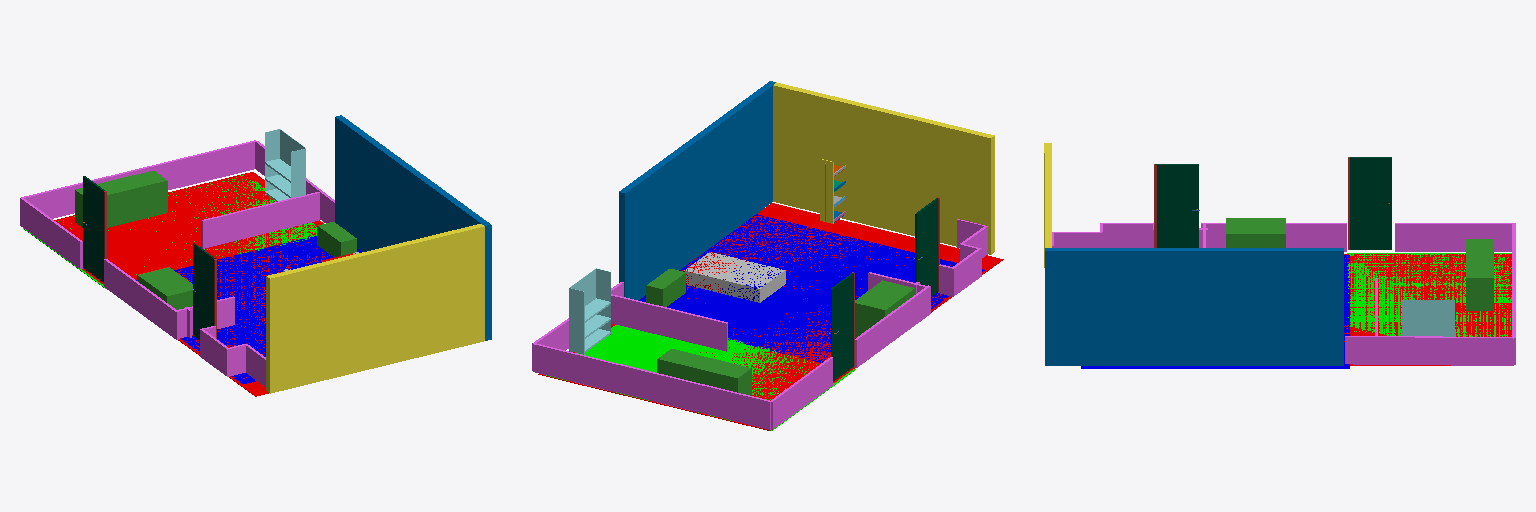
--- Facts derived from the render (not from the file) ---
3 views of the same robot in one strip: view 1: azimuth 30°, elevation 25°; view 2: azimuth 150°, elevation 25°; view 3: azimuth 270°, elevation 25° (orthographic).
Robot: iai-kitchen — 130 links, 129 joints (12 revolute, 15 prismatic, 102 fixed); root link urdf_main; default pose: every joint at zero.
Visible links, largest first — view 1: kitchen_wall_1, kitchen_wall_2, arena:arena:room_center_link, iai_kitchen:kitchen:room_center_link, wall_14_link, wall_4_link, popcorn_table:p_table:table_center, wall_3_link, living_room:arena:door_center, wall_5_link, iai_kitchen:arena:door_center, long_table:l_table:table_center (+8 smaller); view 2: kitchen_wall_1, kitchen_wall_2, iai_kitchen:kitchen:room_center_link, wall_14_link, arena:arena:room_center_link, living_room:living_room:room_center_link, wall_4_link, suturo_couch:couch:place1, popcorn_table:p_table:table_center, wall_3_link, living_room:arena:door_center, wall_5_link (+8 smaller); view 3: kitchen_wall_2, arena:arena:room_center_link, wall_15_link, living_room:living_room:room_center_link, living_room:arena:door_center, iai_kitchen:arena:door_center, wall_5_link, popcorn_table:p_table:table_center, wall_3_link, shelf:shelf:shelf_back, long_table:l_table:table_center, iai_kitchen:kitchen:room_center_link (+3 smaller).
Boxes of the visible links, box(x1,y1,x2,y2) form: kitchen_wall_1: box(266, 224, 484, 393); kitchen_wall_2: box(335, 115, 491, 340); arena:arena:room_center_link: box(54, 172, 329, 396); iai_kitchen:kitchen:room_center_link: box(136, 236, 361, 383); wall_14_link: box(21, 140, 255, 218); wall_4_link: box(201, 192, 319, 248); popcorn_table:p_table:table_center: box(75, 170, 167, 227); wall_3_link: box(104, 259, 178, 339); living_room:arena:door_center: box(83, 176, 104, 282); wall_5_link: box(20, 198, 82, 268); iai_kitchen:arena:door_center: box(193, 243, 215, 339); long_table:l_table:table_center: box(137, 267, 192, 309); kitchen_wall_1: box(773, 82, 994, 254); kitchen_wall_2: box(619, 81, 775, 300); iai_kitchen:kitchen:room_center_link: box(639, 214, 984, 362); wall_14_link: box(533, 343, 770, 429); arena:arena:room_center_link: box(538, 203, 1003, 430); living_room:living_room:room_center_link: box(546, 325, 855, 430); wall_4_link: box(611, 294, 727, 351); suturo_couch:couch:place1: box(684, 252, 785, 302); popcorn_table:p_table:table_center: box(657, 349, 751, 395); wall_3_link: box(854, 285, 930, 367); living_room:arena:door_center: box(831, 273, 853, 381); wall_5_link: box(771, 357, 832, 429); kitchen_wall_2: box(1045, 248, 1343, 365); arena:arena:room_center_link: box(1344, 254, 1511, 365); wall_15_link: box(1345, 336, 1513, 365); living_room:living_room:room_center_link: box(1347, 253, 1511, 336); living_room:arena:door_center: box(1350, 157, 1391, 249); iai_kitchen:arena:door_center: box(1155, 164, 1198, 247); wall_5_link: box(1395, 223, 1513, 251); popcorn_table:p_table:table_center: box(1466, 239, 1493, 310); wall_3_link: box(1201, 223, 1346, 251); shelf:shelf:shelf_back: box(1402, 300, 1454, 336); long_table:l_table:table_center: box(1226, 218, 1285, 247); iai_kitchen:kitchen:room_center_link: box(1081, 255, 1349, 368).
Bounding box of the posed robot: 5.42 × 9.27 × 2.56 m (x, y, z).
0 mesh visuals loaded from 28 distinct referenced files (none loaded); not drawn: 53 (reference not matched to a file when rendering).

The robot description file, URDF, robot "iai-kitchen":
<?xml version="1.0" ?>
<robot name="iai-kitchen" version="1.0">
  <material name="table_grey">
    <color rgba="0.255 0.62 0.223 1.0"/>
  </material>
  <material name="round_table_grey">
    <color rgba="0.8 0.8 0.8 1.0"/>
  </material>
  <material name="wall_pink">
    <color rgba="0.95 0.43 0.96 1.0"/>
  </material>
  <material name="shelf_blue">
    <color rgba="0.59 0.88 0.9 1.0"/>
  </material>
  <material name="shelf_door_green">
    <color rgba="0.64 0.87 0.82 1.0"/>
  </material>
  <material name="shelf_openable_handle_red">
    <color rgba="0.74 0.25 0.25 1.0"/>
  </material>
  <material name="shelf_hohc_handle_red">
    <color rgba="0.74 0.25 0.25 1.0"/>
  </material>
  <material name="door_green">
    <color rgba="0.0 0.31 0.22 1.0"/>
  </material>
  <material name="hinge_red">
    <color rgba="0.74 0.25 0.25 1.0"/>
  </material>
  <material name="handle_blue">
    <color rgba="0.3 0.5 0.78 1.0"/>
  </material>
  <material name="bucket_grey">
    <color rgba="0.8 0.8 0.8 1.0"/>
  </material>
  <material name="white">
    <color rgba="1.0 1.0 1.0 1.0"/>
  </material>
  <material name="orange">
    <color rgba="1.0 0.7 0.0 1.0"/>
  </material>
  <material name="handle_white">
    <color rgba="1.0 1.0 1.0 1.0"/>
  </material>
  <material name="bottom_white">
    <color rgba="1.0 1.0 1.0 1.0"/>
  </material>
  <material name="frame_wood">
    <color rgba="0.68 0.63 0.47 1.0"/>
  </material>
  <material name="handle_grey">
    <color rgba="0.7 0.7 0.7 1.0"/>
  </material>
  <material name="dishwasher_table_color">
    <color rgba="0.255 0.62 0.223 1.0"/>
  </material>
  <material name="color_grey">
    <color rgba="0.8 0.8 0.8 1.0"/>
  </material>
  <material name="color_red">
    <color rgba="1.0 0.0 0.0 1.0"/>
  </material>
  <material name="color_blue">
    <color rgba="0.0 0.0 1.0 1.0"/>
  </material>
  <material name="simple_couch_color_grey">
    <color rgba="0.8 0.8 0.8 1.0"/>
  </material>
  <material name="simple_couch_color_red">
    <color rgba="1.0 0.0 0.0 1.0"/>
  </material>
  <material name="simple_couch_color_blue">
    <color rgba="0.0 0.0 1.0 1.0"/>
  </material>
  <material name="chair_color">
    <color rgba="0.0 0.0 0.5 1.0"/>
  </material>
  <link name="long_table:l_table:table_center">
    <visual>
      <origin xyz="0.0 0.0 -0.3675" rpy="0.0 0.0 0.0"/>
      <geometry>
        <box size="0.73 1.17 0.735"/>
      </geometry>
      <material name="table_grey"/>
    </visual>
    <collision>
      <origin xyz="0.0 0.0 -0.3675" rpy="0.0 0.0 0.0"/>
      <geometry>
        <box size="0.73 1.17 0.735"/>
      </geometry>
    </collision>
  </link>
  <link name="long_table:l_table:table_origin"/>
  <link name="long_table:l_table:table_front_edge_center"/>
  <joint name="long_table:l_table:table_origin_joint" type="fixed">
    <origin xyz="1.01 2.13 0.0" rpy="0.0 0.0 3.15"/>
    <parent link="urdf_offset"/>
    <child link="long_table:l_table:table_origin"/>
  </joint>
  <joint name="long_table:l_table:center_joint" type="fixed">
    <origin xyz="0.365 0.585 0.735" rpy="0.0 0.0 0.0"/>
    <parent link="long_table:l_table:table_origin"/>
    <child link="long_table:l_table:table_center"/>
  </joint>
  <joint name="long_table:l_table:table_front_edge_center_joint" type="fixed">
    <origin xyz="0.0 0.585 0.735" rpy="0.0 0.0 0.0"/>
    <parent link="long_table:l_table:table_origin"/>
    <child link="long_table:l_table:table_front_edge_center"/>
  </joint>
  <link name="popcorn_table:p_table:table_center">
    <visual>
      <origin xyz="0.0 0.0 -0.355" rpy="0.0 0.0 0.0"/>
      <geometry>
        <box size="0.55 1.8 0.71"/>
      </geometry>
      <material name="table_grey"/>
    </visual>
    <collision>
      <origin xyz="0.0 0.0 -0.355" rpy="0.0 0.0 0.0"/>
      <geometry>
        <box size="0.55 1.8 0.71"/>
      </geometry>
    </collision>
  </link>
  <link name="popcorn_table:p_table:table_origin"/>
  <link name="popcorn_table:p_table:table_front_edge_center"/>
  <joint name="popcorn_table:p_table:table_origin_joint" type="fixed">
    <origin xyz="3.03 5.68 0.0" rpy="0.0 0.0 1.57"/>
    <parent link="urdf_offset"/>
    <child link="popcorn_table:p_table:table_origin"/>
  </joint>
  <joint name="popcorn_table:p_table:center_joint" type="fixed">
    <origin xyz="0.275 0.9 0.71" rpy="0.0 0.0 0.0"/>
    <parent link="popcorn_table:p_table:table_origin"/>
    <child link="popcorn_table:p_table:table_center"/>
  </joint>
  <joint name="popcorn_table:p_table:table_front_edge_center_joint" type="fixed">
    <origin xyz="0.0 0.9 0.71" rpy="0.0 0.0 0.0"/>
    <parent link="popcorn_table:p_table:table_origin"/>
    <child link="popcorn_table:p_table:table_front_edge_center"/>
  </joint>
  <link name="couch_table:couch_table:table_center">
    <visual>
      <origin xyz="0.0 0.0 -0.2165" rpy="0.0 0.0 0.0"/>
      <geometry>
        <box size="0.37 0.909 0.433"/>
      </geometry>
      <material name="table_grey"/>
    </visual>
    <collision>
      <origin xyz="0.0 0.0 -0.2165" rpy="0.0 0.0 0.0"/>
      <geometry>
        <box size="0.37 0.909 0.433"/>
      </geometry>
    </collision>
  </link>
  <link name="couch_table:couch_table:table_origin"/>
  <link name="couch_table:couch_table:table_front_edge_center"/>
  <joint name="couch_table:couch_table:table_origin_joint" type="fixed">
    <origin xyz="4.83 1.99 0.0" rpy="0.0 0.0 0.0"/>
    <parent link="urdf_offset"/>
    <child link="couch_table:couch_table:table_origin"/>
  </joint>
  <joint name="couch_table:couch_table:center_joint" type="fixed">
    <origin xyz="0.185 0.4545 0.433" rpy="0.0 0.0 0.0"/>
    <parent link="couch_table:couch_table:table_origin"/>
    <child link="couch_table:couch_table:table_center"/>
  </joint>
  <joint name="couch_table:couch_table:table_front_edge_center_joint" type="fixed">
    <origin xyz="0.0 0.4545 0.433" rpy="0.0 0.0 0.0"/>
    <parent link="couch_table:couch_table:table_origin"/>
    <child link="couch_table:couch_table:table_front_edge_center"/>
  </joint>
  <link name="suturo_couch:couch:place1">
    <visual>
      <origin xyz="0.0 0.0 0.15" rpy="0.0 0.0 0.0"/>
      <geometry>
        <box size="1.0 1.7 0.3"/>
      </geometry>
      <material name="color_grey"/>
    </visual>
    <collision>
      <origin xyz="0.0 0.0 0.0" rpy="0.0 0.0 0.0"/>
      <geometry>
        <box size="1.0 1.7 0.3"/>
      </geometry>
    </collision>
  </link>
  <link name="suturo_couch:couch:place2">
    <visual>
      <origin xyz="0.0 -0.425 0.15" rpy="0.0 0.0 0.0"/>
      <geometry>
        <box size="1.0 0.85 0.3"/>
      </geometry>
      <material name="color_red"/>
    </visual>
    <collision>
      <origin xyz="0.0 0.0 0.0" rpy="0.0 0.0 0.0"/>
      <geometry>
        <box size="1.0 1.7 0.3"/>
      </geometry>
    </collision>
  </link>
  <link name="suturo_couch:couch:place3">
    <visual>
      <origin xyz="0.0 0.425 0.15" rpy="0.0 0.0 0.0"/>
      <geometry>
        <box size="1.0 0.85 0.3"/>
      </geometry>
      <material name="color_blue"/>
    </visual>
    <collision>
      <origin xyz="0.0 0.0 -0.15" rpy="0.0 0.0 0.0"/>
      <geometry>
        <box size="1.0 1.7 0.3"/>
      </geometry>
    </collision>
  </link>
  <joint name="suturo_couch:couch:couch_origin_joint" type="fixed">
    <origin xyz="4.2 1.19 0.0" rpy="0.0 0.0 1.57"/>
    <parent link="urdf_offset"/>
    <child link="suturo_couch:couch:place1"/>
  </joint>
  <joint name="suturo_couch:couch:couch_left_joint" type="fixed">
    <origin xyz="0.0 0.0 0.0" rpy="0.0 0.0 0.0"/>
    <parent link="suturo_couch:couch:place1"/>
    <child link="suturo_couch:couch:place2"/>
  </joint>
  <joint name="suturo_couch:couch:couch_right_joint" type="fixed">
    <origin xyz="0.0 0.0 0.0" rpy="0.0 0.0 0.0"/>
    <parent link="suturo_couch:couch:place1"/>
    <child link="suturo_couch:couch:place3"/>
  </joint>
  <link name="shelf:shelf:shelf_origin"/>
  <link name="shelf:shelf:shelf_center"/>
  <link name="shelf:shelf:shelf_base_center"/>
  <joint name="shelf:shelf:shelf_origin_joint" type="fixed">
    <origin xyz="5.11 4.42 0.0" rpy="0.0 0.0 0.0"/>
    <parent link="urdf_offset"/>
    <child link="shelf:shelf:shelf_origin"/>
  </joint>
  <joint name="shelf:shelf:shelf_center_joint" type="fixed">
    <origin xyz="0.17 0.52 0.6775" rpy="0.0 0.0 0.0"/>
    <parent link="shelf:shelf:shelf_origin"/>
    <child link="shelf:shelf:shelf_center"/>
  </joint>
  <joint name="shelf:shelf:shelf_base_center_joint" type="fixed">
    <origin xyz="0.17 0.52 0.0" rpy="0.0 0.0 0.0"/>
    <parent link="shelf:shelf:shelf_origin"/>
    <child link="shelf:shelf:shelf_base_center"/>
  </joint>
  <link name="shelf:shelf:shelf_back">
    <visual>
      <origin xyz="0.0 0.0 0.0" rpy="0.0 0.0 0.0"/>
      <geometry>
        <box size="0.01 1.04 1.355"/>
      </geometry>
      <material name="shelf_blue"/>
    </visual>
    <collision>
      <origin xyz="0.0 0.0 0.0" rpy="0.0 0.0 0.0"/>
      <geometry>
        <box size="0.01 1.04 1.355"/>
      </geometry>
    </collision>
  </link>
  <joint name="shelf:shelf:shelf_back:joint" type="fixed">
    <origin xyz="0.34 0.52 0.6775" rpy="0.0 0.0 0.0"/>
    <parent link="shelf:shelf:shelf_origin"/>
    <child link="shelf:shelf:shelf_back"/>
  </joint>
  <link name="shelf:shelf:shelf_right_side">
    <visual>
      <origin xyz="0.0 0.0 0.0" rpy="0.0 0.0 0.0"/>
      <geometry>
        <box size="0.34 0.01 1.355"/>
      </geometry>
      <material name="shelf_blue"/>
    </visual>
    <collision>
      <origin xyz="0.0 0.0 0.0" rpy="0.0 0.0 0.0"/>
      <geometry>
        <box size="0.34 0.01 1.355"/>
      </geometry>
    </collision>
  </link>
  <joint name="shelf:shelf:shelf_right_side:joint" type="fixed">
    <origin xyz="0.17 0.0 0.6775" rpy="0.0 0.0 0.0"/>
    <parent link="shelf:shelf:shelf_origin"/>
    <child link="shelf:shelf:shelf_right_side"/>
  </joint>
  <link name="shelf:shelf:shelf_left_side">
    <visual>
      <origin xyz="0.0 0.0 0.0" rpy="0.0 0.0 0.0"/>
      <geometry>
        <box size="0.34 0.01 1.355"/>
      </geometry>
      <material name="shelf_blue"/>
    </visual>
    <collision>
      <origin xyz="0.0 0.0 0.0" rpy="0.0 0.0 0.0"/>
      <geometry>
        <box size="0.34 0.01 1.355"/>
      </geometry>
    </collision>
  </link>
  <joint name="shelf:shelf:shelf_left_side:joint" type="fixed">
    <origin xyz="0.17 1.04 0.6775" rpy="0.0 0.0 0.0"/>
    <parent link="shelf:shelf:shelf_origin"/>
    <child link="shelf:shelf:shelf_left_side"/>
  </joint>
  <link name="shelf:shelf:shelf_floor_0">
    <visual>
      <origin xyz="0.0 0.0 -0.02" rpy="0.0 0.0 0.0"/>
      <geometry>
        <box size="0.34 1.04 0.04"/>
      </geometry>
      <material name="shelf_blue"/>
    </visual>
    <collision>
      <origin xyz="0.0 0.0 -0.02" rpy="0.0 0.0 0.0"/>
      <geometry>
        <box size="0.34 1.04 0.04"/>
      </geometry>
    </collision>
  </link>
  <joint name="shelf:shelf:shelf_floor_0:joint" type="fixed">
    <origin xyz="0.0 0.0 0.077" rpy="0.0 0.0 0.0"/>
    <parent link="shelf:shelf:shelf_base_center"/>
    <child link="shelf:shelf:shelf_floor_0"/>
  </joint>
  <link name="shelf:shelf:shelf_floor_1">
    <visual>
      <origin xyz="0.0 0.0 -0.02" rpy="0.0 0.0 0.0"/>
      <geometry>
        <box size="0.34 1.04 0.04"/>
      </geometry>
      <material name="shelf_blue"/>
    </visual>
    <collision>
      <origin xyz="0.0 0.0 -0.02" rpy="0.0 0.0 0.0"/>
      <geometry>
        <box size="0.34 1.04 0.04"/>
      </geometry>
    </collision>
  </link>
  <joint name="shelf:shelf:shelf_floor_1:joint" type="fixed">
    <origin xyz="0.0 0.0 0.371" rpy="0.0 0.0 0.0"/>
    <parent link="shelf:shelf:shelf_base_center"/>
    <child link="shelf:shelf:shelf_floor_1"/>
  </joint>
  <link name="shelf:shelf:shelf_floor_2">
    <visual>
      <origin xyz="0.0 0.0 -0.02" rpy="0.0 0.0 0.0"/>
      <geometry>
        <box size="0.34 1.04 0.04"/>
      </geometry>
      <material name="shelf_blue"/>
    </visual>
    <collision>
      <origin xyz="0.0 0.0 -0.02" rpy="0.0 0.0 0.0"/>
      <geometry>
        <box size="0.34 1.04 0.04"/>
      </geometry>
    </collision>
  </link>
  <joint name="shelf:shelf:shelf_floor_2:joint" type="fixed">
    <origin xyz="0.0 0.0 0.716" rpy="0.0 0.0 0.0"/>
    <parent link="shelf:shelf:shelf_base_center"/>
    <child link="shelf:shelf:shelf_floor_2"/>
  </joint>
  <joint name="wall_1_center_joint" type="fixed">
    <origin xyz="0.515 0.5015 0.3" rpy="0 0 0"/>
    <parent link="urdf_offset"/>
    <child link="wall_1_link"/>
  </joint>
  <link name="wall_1_link">
    <visual>
      <origin xyz="0.0 0.0 0.0" rpy="0.0 0.0 1.5707963267948966"/>
      <geometry>
        <box size="0.173 0.06 0.6"/>
      </geometry>
      <material name="wall_pink"/>
    </visual>
    <collision>
      <origin xyz="0.0 0.0 0.0" rpy="0.0 0.0 1.5707963267948966"/>
      <geometry>
        <box size="0.173 0.06 0.6"/>
      </geometry>
    </collision>
  </link>
  <joint name="wall_2_center_joint" type="fixed">
    <origin xyz="0.91 0.53 0.3" rpy="0 0 0"/>
    <parent link="urdf_offset"/>
    <child link="wall_2_link"/>
  </joint>
  <link name="wall_2_link">
    <visual>
      <origin xyz="0.0 0.0 0.0" rpy="0.0 0.0 0.0"/>
      <geometry>
        <box size="1.32 0.06 0.6"/>
      </geometry>
      <material name="wall_pink"/>
    </visual>
    <collision>
      <origin xyz="0.0 0.0 0.0" rpy="0.0 0.0 0.0"/>
      <geometry>
        <box size="1.32 0.06 0.6"/>
      </geometry>
    </collision>
  </link>
  <joint name="wall_3_center_joint" type="fixed">
    <origin xyz="0.25 1.903 0.3" rpy="0 0 0"/>
    <parent link="urdf_offset"/>
    <child link="wall_3_link"/>
  </joint>
  <link name="wall_3_link">
    <visual>
      <origin xyz="0.0 0.0 0.0" rpy="0.0 0.0 1.5707963267948966"/>
      <geometry>
        <box size="2.8739999999999997 0.06 0.6"/>
      </geometry>
      <material name="wall_pink"/>
    </visual>
    <collision>
      <origin xyz="0.0 0.0 0.0" rpy="0.0 0.0 1.5707963267948966"/>
      <geometry>
        <box size="2.8739999999999997 0.06 0.6"/>
      </geometry>
    </collision>
  </link>
  <joint name="wall_4_center_joint" type="fixed">
    <origin xyz="4.13 3.92 0.3" rpy="0 0 0"/>
    <parent link="urdf_offset"/>
    <child link="wall_4_link"/>
  </joint>
  <link name="wall_4_link">
    <visual>
      <origin xyz="0.0 0.0 0.0" rpy="0.0 0.0 0.0"/>
      <geometry>
        <box size="2.6799999999999997 0.06 0.6"/>
      </geometry>
      <material name="wall_pink"/>
    </visual>
    <collision>
      <origin xyz="0.0 0.0 0.0" rpy="0.0 0.0 0.0"/>
      <geometry>
        <box size="2.6799999999999997 0.06 0.6"/>
      </geometry>
    </collision>
  </link>
  <joint name="wall_5_center_joint" type="fixed">
    <origin xyz="0.25 5.445 0.3" rpy="0 0 0"/>
    <parent link="urdf_offset"/>
    <child link="wall_5_link"/>
  </joint>
  <link name="wall_5_link">
    <visual>
      <origin xyz="0.0 0.0 0.0" rpy="0.0 0.0 1.5707963267948966"/>
      <geometry>
        <box size="2.3500000000000005 0.06 0.6"/>
      </geometry>
      <material name="wall_pink"/>
    </visual>
    <collision>
      <origin xyz="0.0 0.0 0.0" rpy="0.0 0.0 1.5707963267948966"/>
      <geometry>
        <box size="2.3500000000000005 0.06 0.6"/>
      </geometry>
    </collision>
  </link>
  <joint name="wall_9_center_joint" type="fixed">
    <origin xyz="0.97 -2.47 0.3" rpy="0 0 0"/>
    <parent link="urdf_offset"/>
    <child link="wall_9_link"/>
  </joint>
  <link name="wall_9_link">
    <visual>
      <origin xyz="0.0 0.0 0.0" rpy="0.0 0.0 0.0"/>
      <geometry>
        <box size="0.68 0.06 0.6"/>
      </geometry>
      <material name="wall_pink"/>
    </visual>
    <collision>
      <origin xyz="0.0 0.0 0.0" rpy="0.0 0.0 0.0"/>
      <geometry>
        <box size="0.68 0.06 0.6"/>
      </geometry>
    </collision>
  </link>
  <joint name="wall_10_center_joint" type="fixed">
    <origin xyz="0.6645000000000001 -2.0 0.3" rpy="0 0 0"/>
    <parent link="urdf_offset"/>
    <child link="wall_10_link"/>
  </joint>
  <link name="wall_10_link">
    <visual>
      <origin xyz="0.0 0.0 0.0" rpy="0.0 0.0 1.560012431117244"/>
      <geometry>
        <box size="1.0200593120010226 0.06 0.6"/>
      </geometry>
      <material name="wall_pink"/>
    </visual>
    <collision>
      <origin xyz="0.0 0.0 0.0" rpy="0.0 0.0 1.560012431117244"/>
      <geometry>
        <box size="1.0200593120010226 0.06 0.6"/>
      </geometry>
    </collision>
  </link>
  <joint name="wall_11_center_joint" type="fixed">
    <origin xyz="0.457 -1.5 0.3" rpy="0 0 0"/>
    <parent link="urdf_offset"/>
    <child link="wall_11_link"/>
  </joint>
  <link name="wall_11_link">
    <visual>
      <origin xyz="0.0 0.0 0.0" rpy="0.0 0.0 0.0"/>
      <geometry>
        <box size="0.404 0.06 0.6"/>
      </geometry>
      <material name="wall_pink"/>
    </visual>
    <collision>
      <origin xyz="0.0 0.0 0.0" rpy="0.0 0.0 0.0"/>
      <geometry>
        <box size="0.404 0.06 0.6"/>
      </geometry>
    </collision>
  </link>
  <joint name="wall_12_center_joint" type="fixed">
    <origin xyz="0.2575 -0.983 0.3" rpy="0 0 0"/>
    <parent link="urdf_offset"/>
    <child link="wall_12_link"/>
  </joint>
  <link name="wall_12_link">
    <visual>
      <origin xyz="0.0 0.0 0.0" rpy="0.0 0.0 1.566225974704932"/>
      <geometry>
        <box size="1.0940114259001137 0.06 0.6"/>
      </geometry>
      <material name="wall_pink"/>
    </visual>
    <collision>
      <origin xyz="0.0 0.0 0.0" rpy="0.0 0.0 1.566225974704932"/>
      <geometry>
        <box size="1.0940114259001137 0.06 0.6"/>
      </geometry>
    </collision>
  </link>
  <joint name="wall_13_center_joint" type="fixed">
    <origin xyz="0.41 -0.464 0.3" rpy="0 0 0"/>
    <parent link="urdf_offset"/>
    <child link="wall_13_link"/>
  </joint>
  <link name="wall_13_link">
    <visual>
      <origin xyz="0.0 0.0 0.0" rpy="0.0 0.0 0.0"/>
      <geometry>
        <box size="0.31999999999999995 0.06 0.6"/>
      </geometry>
      <material name="wall_pink"/>
    </visual>
    <collision>
      <origin xyz="0.0 0.0 0.0" rpy="0.0 0.0 0.0"/>
      <geometry>
        <box size="0.31999999999999995 0.06 0.6"/>
      </geometry>
    </collision>
  </link>
  <joint name="wall_14_center_joint" type="fixed">
    <origin xyz="2.915 6.62 0.3" rpy="0 0 0"/>
    <parent link="urdf_offset"/>
    <child link="wall_14_link"/>
  </joint>
  <link name="wall_14_link">
    <visual>
      <origin xyz="0.0 0.0 0.0" rpy="0.0 0.0 0.0"/>
      <geometry>
        <box size="5.33 0.06 0.6"/>
      </geometry>
      <material name="wall_pink"/>
    </visual>
    <collision>
      <origin xyz="0.0 0.0 0.0" rpy="0.0 0.0 0.0"/>
      <geometry>
        <box size="5.33 0.06 0.6"/>
      </geometry>
    </collision>
  </link>
  <joint name="wall_15_center_joint" type="fixed">
    <origin xyz="5.54 4.96 0.3" rpy="0 0 0"/>
    <parent link="urdf_offset"/>
    <child link="wall_15_link"/>
  </joint>
  <link name="wall_15_link">
    <visual>
      <origin xyz="0.0 0.0 0.0" rpy="0.0 0.0 1.5467046033699754"/>
      <geometry>
        <box size="3.320963715550051 0.06 0.6"/>
      </geometry>
      <material name="wall_pink"/>
    </visual>
    <collision>
      <origin xyz="0.0 0.0 0.0" rpy="0.0 0.0 1.5467046033699754"/>
      <geometry>
        <box size="3.320963715550051 0.06 0.6"/>
      </geometry>
    </collision>
  </link>
  <joint name="world_iai_kitchen:kitchen:room_joint" type="fixed">
    <origin xyz="3.0 0.75 -0.05" rpy="0.0 0.0 0.0"/>
    <parent link="urdf_offset"/>
    <child link="iai_kitchen:kitchen:room_center_link"/>
  </joint>
  <link name="iai_kitchen:kitchen:room_center_link">
    <visual>
      <geometry>
        <box size="5.28 5.3 0.01"/>
      </geometry>
      <material name="iai_kitchen:kitchen:color">
        <color rgba="0.0 0.0 1.0 0.1"/>
      </material>
    </visual>
    <collision>
      <geometry>
        <box size="5.28 5.3 0.01"/>
      </geometry>
    </collision>
  </link>
  <joint name="room_kitchen_entry_exit:entry_exit:connection_joint" type="fixed">
    <origin xyz="-2.4 -0.66 0.0" rpy="0.0 0.0 0.0"/>
    <parent link="iai_kitchen:kitchen:room_center_link"/>
    <child link="kitchen_entry_exit:entry_exit:link"/>
  </joint>
  <link name="kitchen_entry_exit:entry_exit:link"/>
  <joint name="world_arena:arena:room_joint" type="fixed">
    <origin xyz="2.9 2.05 -0.05" rpy="0.0 0.0 0.0"/>
    <parent link="urdf_offset"/>
    <child link="arena:arena:room_center_link"/>
  </joint>
  <link name="arena:arena:room_center_link">
    <visual>
      <geometry>
        <box size="5.2 9.1 0.01"/>
      </geometry>
      <material name="arena:arena:color">
        <color rgba="1.0 0.0 0.0 0.1"/>
      </material>
    </visual>
    <collision>
      <geometry>
        <box size="5.2 9.1 0.01"/>
      </geometry>
    </collision>
  </link>
  <joint name="room_arena_entry:entry:connection_joint" type="fixed">
    <origin xyz="-2.23 -2.05 0.0" rpy="0.0 0.0 0.0"/>
    <parent link="arena:arena:room_center_link"/>
    <child link="arena_entry:entry:link"/>
  </joint>
  <link name="arena_entry:entry:link"/>
  <joint name="room_arena_exit:exit:connection_joint" type="fixed">
    <origin xyz="-2.23 1.75 0.0" rpy="0.0 0.0 0.0"/>
    <parent link="arena:arena:room_center_link"/>
    <child link="arena_exit:exit:link"/>
  </joint>
  <link name="arena_exit:exit:link"/>
  <joint name="world_living_room:living_room:room_joint" type="fixed">
    <origin xyz="2.79 4.95 -0.05" rpy="0.0 0.0 0.0"/>
    <parent link="urdf_offset"/>
    <child link="living_room:living_room:room_center_link"/>
  </joint>
  <link name="living_room:living_room:room_center_link">
    <visual>
      <geometry>
        <box size="5.07 3.25 0.01"/>
      </geometry>
      <material name="living_room:living_room:color">
        <color rgba="0.0 1.0 0.0 0.1"/>
      </material>
    </visual>
    <collision>
      <geometry>
        <box size="5.07 3.25 0.01"/>
      </geometry>
    </collision>
  </link>
  <joint name="room_living_room_entry_exit:entry_exit:connection_joint" type="fixed">
    <origin xyz="-2.5300000000000002 -1.1400000000000001 0.0" rpy="0.0 0.0 0.0"/>
    <parent link="living_room:living_room:room_center_link"/>
    <child link="living_room_entry_exit:entry_exit:link"/>
  </joint>
  <link name="living_room_entry_exit:entry_exit:link"/>
  <link name="kitchen_main">
    <inertial>
      <origin xyz="0.0 0.0 0.0" rpy="0.0 0.0 0.0"/>
      <mass value="1.0"/>
      <inertia ixx="1.0" ixy="0.0" ixz="0.0" iyy="1.0" iyz="0.0" izz="1.0"/>
    </inertial>
  </link>
  <joint name="kitchen_main" type="fixed">
    <origin xyz="2.45 -0.67 0.0" rpy="0.0 0.0 -1.57"/>
    <parent link="urdf_offset"/>
    <child link="kitchen_main"/>
  </joint>
  <link name="sink_area_footprint">
    <inertial>
      <origin xyz="0.0 0.0 0.0" rpy="0.0 0.0 0.0"/>
      <mass value="1.0"/>
      <inertia ixx="1.0" ixy="0.0" ixz="0.0" iyy="1.0" iyz="0.0" izz="1.0"/>
    </inertial>
  </link>
  <link name="sink_area">
    <inertial>
      <origin xyz="0.0 0.0 0.0" rpy="0.0 0.0 0.0"/>
      <mass value="1.0"/>
      <inertia ixx="1.0" ixy="0.0" ixz="0.0" iyy="1.0" iyz="0.0" izz="1.0"/>
    </inertial>
    <visual>
      <origin xyz="0.0 0.0 0.0" rpy="0.0 0.0 0.0"/>
      <geometry>
        <mesh filename="package://iai_kitchen/meshes/racks/SinkArea.obj"/>
      </geometry>
    </visual>
    <collision>
      <origin xyz="0.0 0.0 0.0" rpy="0.0 0.0 0.0"/>
      <geometry>
        <mesh filename="package://iai_kitchen/meshes/racks/SinkArea.obj"/>
      </geometry>
    </collision>
  </link>
  <joint name="sink_area_footprint_joint" type="fixed">
    <origin xyz="1.825 1.32 0.0" rpy="0.0 0.0 3.14159265359"/>
    <parent link="kitchen_main"/>
    <child link="sink_area_footprint"/>
  </joint>
  <joint name="sink_area_main_joint" type="fixed">
    <origin xyz="0.29 1.03 0.41" rpy="0.0 0.0 0.0"/>
    <parent link="sink_area_footprint"/>
    <child link="sink_area"/>
  </joint>
  <link name="sink_area_surface">
    <inertial>
      <origin xyz="0.0 0.0 0.0" rpy="0.0 0.0 0.0"/>
      <mass value="1.0"/>
      <inertia ixx="1.0" ixy="0.0" ixz="0.0" iyy="1.0" iyz="0.0" izz="1.0"/>
    </inertial>
    <collision>
      <origin xyz="0.0 -0.225 0.0" rpy="0.0 0.0 0.0"/>
      <geometry>
        <box size="0.575 1.6 0.02"/>
      </geometry>
    </collision>
  </link>
  <joint name="sink_area_surface_joint" type="fixed">
    <origin xyz="0.0 0.0 0.43" rpy="0.0 0.0 0.0"/>
    <parent link="sink_area"/>
    <child link="sink_area_surface"/>
  </joint>
  <link name="sink_area_sink">
    <inertial>
      <origin xyz="0.0 0.0 0.0" rpy="0.0 0.0 0.0"/>
      <mass value="1.0"/>
      <inertia ixx="1.0" ixy="0.0" ixz="0.0" iyy="1.0" iyz="0.0" izz="1.0"/>
    </inertial>
    <visual>
      <origin xyz="0.0 0.0 0.0" rpy="0.0 0.0 0.0"/>
      <geometry>
        <mesh filename="package://iai_kitchen/meshes/misc/Sink.obj"/>
      </geometry>
    </visual>
    <collision>
      <origin xyz="0.0 0.0 0.0" rpy="0.0 0.0 0.0"/>
      <geometry>
        <mesh filename="package://iai_kitchen/meshes/misc/Sink.obj"/>
      </geometry>
    </collision>
  </link>
  <joint name="sink_area_sink_joint" type="fixed">
    <origin xyz="0.005 0.47 0.4414" rpy="0.0 0.0 0.0"/>
    <parent link="sink_area"/>
    <child link="sink_area_sink"/>
  </joint>
  <link name="sink_area_right_panel">
    <inertial>
      <origin xyz="0.0 0.0 0.0" rpy="0.0 0.0 0.0"/>
      <mass value="1.0"/>
      <inertia ixx="1.0" ixy="0.0" ixz="0.0" iyy="1.0" iyz="0.0" izz="1.0"/>
    </inertial>
    <visual>
      <origin xyz="0.0 0.0 0.0" rpy="0.0 0.0 0.0"/>
      <geometry>
        <mesh filename="package://iai_kitchen/meshes/drawers/Panel_60.obj"/>
      </geometry>
    </visual>
    <collision>
      <origin xyz="0.0 0.0 0.0" rpy="0.0 0.0 0.0"/>
      <geometry>
        <mesh filename="package://iai_kitchen/meshes/drawers/Panel_60.obj"/>
      </geometry>
    </collision>
  </link>
  <joint name="sink_area_right_panel_joint" type="fixed">
    <origin xyz="0.28 0.7 0.355" rpy="0.0 0.0 0.0"/>
    <parent link="sink_area"/>
    <child link="sink_area_right_panel"/>
  </joint>
  <link name="sink_area_trash_drawer_main">
    <inertial>
      <origin xyz="0.0 0.0 0.0" rpy="0.0 0.0 0.0"/>
      <mass value="1.0"/>
      <inertia ixx="1.0" ixy="0.0" ixz="0.0" iyy="1.0" iyz="0.0" izz="1.0"/>
    </inertial>
    <visual>
      <origin xyz="0.0 0.0 0.0" rpy="0.0 0.0 0.0"/>
      <geometry>
        <mesh filename="package://iai_kitchen/meshes/drawers/Drawer_60_58.obj"/>
      </geometry>
    </visual>
    <collision>
      <origin xyz="0.0 0.0 0.0" rpy="0.0 0.0 0.0"/>
      <geometry>
        <mesh filename="package://iai_kitchen/meshes/drawers/Drawer_60_58.obj"/>
      </geometry>
    </collision>
  </link>
  <link name="sink_area_trash_drawer_handle">
    <inertial>
      <origin xyz="0.0 0.0 0.0" rpy="0.0 0.0 0.0"/>
      <mass value="1.0"/>
      <inertia ixx="1.0" ixy="0.0" ixz="0.0" iyy="1.0" iyz="0.0" izz="1.0"/>
    </inertial>
    <visual>
      <origin xyz="0.0 0.0 0.0" rpy="0.0 0.0 0.0"/>
      <geometry>
        <mesh filename="package://iai_kitchen/meshes/handles/Handle60.obj"/>
      </geometry>
    </visual>
    <collision>
      <origin xyz="0.0 0.0 0.0" rpy="0.0 0.0 0.0"/>
      <geometry>
        <mesh filename="package://iai_kitchen/meshes/handles/Handle60.obj"/>
      </geometry>
    </collision>
  </link>
  <joint name="sink_area_trash_drawer_main_joint" type="prismatic">
    <origin xyz="0.01 0.7 -0.015" rpy="0.0 0.0 0.0"/>
    <axis xyz="1.0 0.0 0.0"/>
    <parent link="sink_area"/>
    <child link="sink_area_trash_drawer_main"/>
    <limit effort="300.0" lower="0.0" upper="0.48" velocity="10.0"/>
  </joint>
  <joint name="sink_area_trash_drawer_handle_joint" type="fixed">
    <origin xyz="0.3325 0.0 0.2375" rpy="0.0 0.0 0.0"/>
    <axis xyz="0.0 0.0 1.0"/>
    <parent link="sink_area_trash_drawer_main"/>
    <child link="sink_area_trash_drawer_handle"/>
    <limit effort="300.0" lower="0.0" upper="1.57079632679" velocity="10.0"/>
  </joint>
  <link name="sink_area_left_upper_drawer_main">
    <inertial>
      <origin xyz="0.0 0.0 0.0" rpy="0.0 0.0 0.0"/>
      <mass value="1.0"/>
      <inertia ixx="1.0" ixy="0.0" ixz="0.0" iyy="1.0" iyz="0.0" izz="1.0"/>
    </inertial>
    <visual>
      <origin xyz="0.0 0.0 0.0" rpy="0.0 0.0 0.0"/>
      <geometry>
        <mesh filename="package://iai_kitchen/meshes/drawers/Drawer_80_14.obj"/>
      </geometry>
    </visual>
    <collision>
      <origin xyz="0.0 0.0 0.0" rpy="0.0 0.0 0.0"/>
      <geometry>
        <mesh filename="package://iai_kitchen/meshes/drawers/Drawer_80_14.obj"/>
      </geometry>
    </collision>
  </link>
  <link name="sink_area_left_upper_drawer_handle">
    <inertial>
      <origin xyz="0.0 0.0 0.0" rpy="0.0 0.0 0.0"/>
      <mass value="1.0"/>
      <inertia ixx="1.0" ixy="0.0" ixz="0.0" iyy="1.0" iyz="0.0" izz="1.0"/>
    </inertial>
    <visual>
      <origin xyz="0.0 0.0 0.0" rpy="0.0 0.0 0.0"/>
      <geometry>
        <mesh filename="package://iai_kitchen/meshes/handles/Handle80.obj"/>
      </geometry>
    </visual>
    <collision>
      <origin xyz="0.0 0.0 0.0" rpy="0.0 0.0 0.0"/>
      <geometry>
        <mesh filename="package://iai_kitchen/meshes/handles/Handle80.obj"/>
      </geometry>
    </collision>
  </link>
  <joint name="sink_area_left_upper_drawer_main_joint" type="prismatic">
    <origin xyz="0.01 -0.6 0.345" rpy="0.0 0.0 0.0"/>
    <axis xyz="1.0 0.0 0.0"/>
    <parent link="sink_area"/>
    <child link="sink_area_left_upper_drawer_main"/>
    <limit effort="300.0" lower="0.0" upper="0.48" velocity="10.0"/>
  </joint>
  <joint name="sink_area_left_upper_drawer_handle_joint" type="fixed">
    <origin xyz="0.3325 0.0 0.0175" rpy="0.0 0.0 0.0"/>
    <axis xyz="0.0 0.0 1.0"/>
    <parent link="sink_area_left_upper_drawer_main"/>
    <child link="sink_area_left_upper_drawer_handle"/>
    <limit effort="300.0" lower="0.0" upper="1.57079632679" velocity="10.0"/>
  </joint>
  <link name="sink_area_left_middle_drawer_main">
    <inertial>
      <origin xyz="0.0 0.0 0.0" rpy="0.0 0.0 0.0"/>
      <mass value="1.0"/>
      <inertia ixx="1.0" ixy="0.0" ixz="0.0" iyy="1.0" iyz="0.0" izz="1.0"/>
    </inertial>
    <visual>
      <origin xyz="0.0 0.0 0.0" rpy="0.0 0.0 0.0"/>
      <geometry>
        <mesh filename="package://iai_kitchen/meshes/drawers/Drawer_80_29.obj"/>
      </geometry>
    </visual>
    <collision>
      <origin xyz="0.0 0.0 0.0" rpy="0.0 0.0 0.0"/>
      <geometry>
        <mesh filename="package://iai_kitchen/meshes/drawers/Drawer_80_29.obj"/>
      </geometry>
    </collision>
  </link>
  <link name="sink_area_left_middle_drawer_handle">
    <inertial>
      <origin xyz="0.0 0.0 0.0" rpy="0.0 0.0 0.0"/>
      <mass value="1.0"/>
      <inertia ixx="1.0" ixy="0.0" ixz="0.0" iyy="1.0" iyz="0.0" izz="1.0"/>
    </inertial>
    <visual>
      <origin xyz="0.0 0.0 0.0" rpy="0.0 0.0 0.0"/>
      <geometry>
        <mesh filename="package://iai_kitchen/meshes/handles/Handle80.obj"/>
      </geometry>
    </visual>
    <collision>
      <origin xyz="0.0 0.0 0.0" rpy="0.0 0.0 0.0"/>
      <geometry>
        <mesh filename="package://iai_kitchen/meshes/handles/Handle80.obj"/>
      </geometry>
    </collision>
  </link>
  <joint name="sink_area_left_middle_drawer_main_joint" type="prismatic">
    <origin xyz="0.01 -0.6 0.12" rpy="0.0 0.0 0.0"/>
    <axis xyz="1.0 0.0 0.0"/>
    <parent link="sink_area"/>
    <child link="sink_area_left_middle_drawer_main"/>
    <limit effort="300.0" lower="0.0" upper="0.48" velocity="10.0"/>
  </joint>
  <joint name="sink_area_left_middle_drawer_handle_joint" type="fixed">
    <origin xyz="0.3325 0.0 0.11" rpy="0.0 0.0 0.0"/>
    <axis xyz="0.0 0.0 1.0"/>
    <parent link="sink_area_left_middle_drawer_main"/>
    <child link="sink_area_left_middle_drawer_handle"/>
    <limit effort="300.0" lower="0.0" upper="1.57079632679" velocity="10.0"/>
  </joint>
  <link name="sink_area_left_bottom_drawer_main">
    <inertial>
      <origin xyz="0.0 0.0 0.0" rpy="0.0 0.0 0.0"/>
      <mass value="1.0"/>
      <inertia ixx="1.0" ixy="0.0" ixz="0.0" iyy="1.0" iyz="0.0" izz="1.0"/>
    </inertial>
    <visual>
      <origin xyz="0.0 0.0 0.0" rpy="0.0 0.0 0.0"/>
      <geometry>
        <mesh filename="package://iai_kitchen/meshes/drawers/Drawer_80_29.obj"/>
      </geometry>
    </visual>
    <collision>
      <origin xyz="0.0 0.0 0.0" rpy="0.0 0.0 0.0"/>
      <geometry>
        <mesh filename="package://iai_kitchen/meshes/drawers/Drawer_80_29.obj"/>
      </geometry>
    </collision>
  </link>
  <link name="sink_area_left_bottom_drawer_handle">
    <inertial>
      <origin xyz="0.0 0.0 0.0" rpy="0.0 0.0 0.0"/>
      <mass value="1.0"/>
      <inertia ixx="1.0" ixy="0.0" ixz="0.0" iyy="1.0" iyz="0.0" izz="1.0"/>
    </inertial>
    <visual>
      <origin xyz="0.0 0.0 0.0" rpy="0.0 0.0 0.0"/>
      <geometry>
        <mesh filename="package://iai_kitchen/meshes/handles/Handle80.obj"/>
      </geometry>
    </visual>
    <collision>
      <origin xyz="0.0 0.0 0.0" rpy="0.0 0.0 0.0"/>
      <geometry>
        <mesh filename="package://iai_kitchen/meshes/handles/Handle80.obj"/>
      </geometry>
    </collision>
  </link>
  <joint name="sink_area_left_bottom_drawer_main_joint" type="prismatic">
    <origin xyz="0.01 -0.6 -0.18" rpy="0.0 0.0 0.0"/>
    <axis xyz="1.0 0.0 0.0"/>
    <parent link="sink_area"/>
    <child link="sink_area_left_bottom_drawer_main"/>
    <limit effort="300.0" lower="0.0" upper="0.48" velocity="10.0"/>
  </joint>
  <joint name="sink_area_left_bottom_drawer_handle_joint" type="fixed">
    <origin xyz="0.3325 0.0 0.11" rpy="0.0 0.0 0.0"/>
    <axis xyz="0.0 0.0 1.0"/>
    <parent link="sink_area_left_bottom_drawer_main"/>
    <child link="sink_area_left_bottom_drawer_handle"/>
    <limit effort="300.0" lower="0.0" upper="1.57079632679" velocity="10.0"/>
  </joint>
  <link name="sink_area_dish_washer_main">
    <inertial>
      <origin xyz="0.0 0.0 0.0" rpy="0.0 0.0 0.0"/>
      <mass value="1.0"/>
      <inertia ixx="1.0" ixy="0.0" ixz="0.0" iyy="1.0" iyz="0.0" izz="1.0"/>
    </inertial>
    <visual>
      <origin xyz="0.0 0.0 0.0" rpy="0.0 0.0 0.0"/>
      <geometry>
        <mesh filename="package://iai_kitchen/meshes/misc/DishWasher.obj"/>
      </geometry>
    </visual>
    <collision>
      <origin xyz="0.0 0.0 0.0" rpy="0.0 0.0 0.0"/>
      <geometry>
        <mesh filename="package://iai_kitchen/meshes/misc/DishWasher.obj"/>
      </geometry>
    </collision>
  </link>
  <link name="sink_area_dish_washer_door">
    <inertial>
      <origin xyz="0.0 0.0 0.0" rpy="0.0 0.0 0.0"/>
      <mass value="1.0"/>
      <inertia ixx="1.0" ixy="0.0" ixz="0.0" iyy="1.0" iyz="0.0" izz="1.0"/>
    </inertial>
    <visual>
      <origin xyz="0.0 0.0 0.0" rpy="1.57079632679 0.0 0.0"/>
      <geometry>
        <mesh filename="package://iai_kitchen/meshes/misc/DishWasherDoor.obj"/>
      </geometry>
    </visual>
    <collision>
      <origin xyz="0.0 0.0 0.0" rpy="1.57079632679 0.0 0.0"/>
      <geometry>
        <mesh filename="package://iai_kitchen/meshes/misc/DishWasherDoor.obj"/>
      </geometry>
    </collision>
  </link>
  <link name="sink_area_dish_washer_door_handle">
    <inertial>
      <origin xyz="0.0 0.0 0.0" rpy="0.0 0.0 0.0"/>
      <mass value="1.0"/>
      <inertia ixx="1.0" ixy="0.0" ixz="0.0" iyy="1.0" iyz="0.0" izz="1.0"/>
    </inertial>
    <visual>
      <origin xyz="0.0 0.0 0.0" rpy="0.0 0.0 0.0"/>
      <geometry>
        <mesh filename="package://iai_kitchen/meshes/handles/Handle60.obj"/>
      </geometry>
    </visual>
    <collision>
      <origin xyz="0.0 0.0 0.0" rpy="0.0 0.0 0.0"/>
      <geometry>
        <mesh filename="package://iai_kitchen/meshes/handles/Handle60.obj"/>
      </geometry>
    </collision>
  </link>
  <joint name="sink_area_dish_washer_main_joint" type="fixed">
    <origin xyz="0.01 0.1 0.044" rpy="0.0 0.0 0.0"/>
    <axis xyz="1.0 0.0 0.0"/>
    <parent link="sink_area"/>
    <child link="sink_area_dish_washer_main"/>
  </joint>
  <joint name="sink_area_dish_washer_door_joint" type="revolute">
    <origin xyz="0.27 0.0 -0.325" rpy="-1.57079632679 0.03 0.0"/>
    <axis xyz="0.0 0.0 1.0"/>
    <parent link="sink_area_dish_washer_main"/>
    <child link="sink_area_dish_washer_door"/>
    <limit effort="300.0" lower="0.0" upper="1.57079632679" velocity="10.0"/>
  </joint>
  <joint name="sink_area_dish_washer_door_handle_joint" type="fixed">
    <origin xyz="0.0625 -0.6325 0.0" rpy="-1.57079632679 0.0 0.0"/>
    <parent link="sink_area_dish_washer_door"/>
    <child link="sink_area_dish_washer_door_handle"/>
  </joint>
  <link name="oven_area_area_footprint">
    <inertial>
      <origin xyz="0.0 0.0 0.0" rpy="0.0 0.0 0.0"/>
      <mass value="1.0"/>
      <inertia ixx="1.0" ixy="0.0" ixz="0.0" iyy="1.0" iyz="0.0" izz="1.0"/>
    </inertial>
  </link>
  <link name="oven_area_area">
    <inertial>
      <origin xyz="0.0 0.0 0.0" rpy="0.0 0.0 0.0"/>
      <mass value="1.0"/>
      <inertia ixx="1.0" ixy="0.0" ixz="0.0" iyy="1.0" iyz="0.0" izz="1.0"/>
    </inertial>
    <visual>
      <origin xyz="0.0 0.0 0.0" rpy="0.0 0.0 0.0"/>
      <geometry>
        <mesh filename="package://iai_kitchen/meshes/racks/OvenArea.obj"/>
      </geometry>
    </visual>
    <collision>
      <origin xyz="0.0 0.0 0.0" rpy="0.0 0.0 0.0"/>
      <geometry>
        <mesh filename="package://iai_kitchen/meshes/racks/OvenArea.obj"/>
      </geometry>
    </collision>
  </link>
  <joint name="oven_area_footprint_joint" type="fixed">
    <origin xyz="1.805 2.52 0.0" rpy="0.0 0.0 3.14159265359"/>
    <parent link="kitchen_main"/>
    <child link="oven_area_area_footprint"/>
  </joint>
  <joint name="oven_area_main_joint" type="fixed">
    <origin xyz="0.29 0.6 0.755" rpy="0.0 0.0 0.0"/>
    <parent link="oven_area_area_footprint"/>
    <child link="oven_area_area"/>
  </joint>
  <link name="oven_area_oven_main">
    <inertial>
      <origin xyz="0.0 0.0 0.0" rpy="0.0 0.0 0.0"/>
      <mass value="1.0"/>
      <inertia ixx="1.0" ixy="0.0" ixz="0.0" iyy="1.0" iyz="0.0" izz="1.0"/>
    </inertial>
    <visual>
      <origin xyz="0.0 0.0 0.0" rpy="0.0 0.0 0.0"/>
      <geometry>
        <mesh filename="package://iai_kitchen/meshes/oven/OvenMain.obj"/>
      </geometry>
    </visual>
    <collision>
      <origin xyz="0.0 0.0 0.0" rpy="0.0 0.0 0.0"/>
      <geometry>
        <mesh filename="package://iai_kitchen/meshes/oven/OvenMain.obj"/>
      </geometry>
    </collision>
  </link>
  <link name="oven_area_oven_door">
    <inertial>
      <origin xyz="0.0 0.0 0.0" rpy="0.0 0.0 0.0"/>
      <mass value="1.0"/>
      <inertia ixx="1.0" ixy="0.0" ixz="0.0" iyy="1.0" iyz="0.0" izz="1.0"/>
    </inertial>
    <visual>
      <origin xyz="0.0 0.0 0.0" rpy="1.57079632679 0.0 0.0"/>
      <geometry>
        <mesh filename="package://iai_kitchen/meshes/oven/OvenDoor.obj"/>
      </geometry>
    </visual>
    <collision>
      <origin xyz="0.0 0.0 0.0" rpy="1.57079632679 0.0 0.0"/>
      <geometry>
        <mesh filename="package://iai_kitchen/meshes/oven/OvenDoor.obj"/>
      </geometry>
    </collision>
  </link>
  <link name="oven_area_oven_door_handle">
    <inertial>
      <origin xyz="0.0 0.0 0.0" rpy="0.0 0.0 0.0"/>
      <mass value="1.0"/>
      <inertia ixx="1.0" ixy="0.0" ixz="0.0" iyy="1.0" iyz="0.0" izz="1.0"/>
    </inertial>
    <visual>
      <origin xyz="0.0 0.0 0.0" rpy="0.0 0.0 0.0"/>
      <geometry>
        <mesh filename="package://iai_kitchen/meshes/handles/Handle60.obj"/>
      </geometry>
    </visual>
    <collision>
      <origin xyz="0.0 0.0 0.0" rpy="0.0 0.0 0.0"/>
      <geometry>
        <mesh filename="package://iai_kitchen/meshes/handles/Handle60.obj"/>
      </geometry>
    </collision>
  </link>
  <link name="oven_area_oven_panel">
    <inertial>
      <origin xyz="0.0 0.0 0.0" rpy="0.0 0.0 0.0"/>
      <mass value="1.0"/>
      <inertia ixx="1.0" ixy="0.0" ixz="0.0" iyy="1.0" iyz="0.0" izz="1.0"/>
    </inertial>
    <visual>
      <origin xyz="0.0 0.0 0.0" rpy="0.0 0.0 0.0"/>
      <geometry>
        <mesh filename="package://iai_kitchen/meshes/oven/OvenPanel.obj"/>
      </geometry>
    </visual>
    <collision>
      <origin xyz="0.0 0.0 0.0" rpy="0.0 0.0 0.0"/>
      <geometry>
        <mesh filename="package://iai_kitchen/meshes/oven/OvenPanel.obj"/>
      </geometry>
    </collision>
  </link>
  <joint name="oven_area_oven_main_joint" type="fixed">
    <origin xyz="0.0 0.0 0.415" rpy="0.0 0.0 0.0"/>
    <parent link="oven_area_area"/>
    <child link="oven_area_oven_main"/>
  </joint>
  <joint name="oven_area_oven_door_joint" type="revolute">
    <origin xyz="0.2737 0.0 -0.2614" rpy="-1.57079632679 0.0 0.0"/>
    <axis xyz="0.0 0.0 1.0"/>
    <parent link="oven_area_oven_main"/>
    <child link="oven_area_oven_door"/>
    <limit effort="0.03" lower="0.0" upper="0.0" velocity="10.0"/>
    <dynamics damping="100.1"/>
  </joint>
  <gazebo reference="oven_area_oven_door_joint">
    <kp>1000000000</kp>
    <kd>1000000000</kd>
  </gazebo>
  <joint name="oven_area_oven_door_handle_joint" type="fixed">
    <origin xyz="0.05876 -0.39803 0.0" rpy="-1.57079632679 0.0 0.0"/>
    <axis xyz="0.0 0.0 1.0"/>
    <parent link="oven_area_oven_door"/>
    <child link="oven_area_oven_door_handle"/>
    <limit effort="300.0" lower="0.0" upper="1.57079632679" velocity="10.0"/>
  </joint>
  <joint name="oven_area_oven_panel_joint" type="fixed">
    <origin xyz="0.27 0.0 0.2449" rpy="0.0 0.0 0.0"/>
    <parent link="oven_area_oven_main"/>
    <child link="oven_area_oven_panel"/>
  </joint>
  <link name="oven_area_oven_knob_stove_1">
    <inertial>
      <origin xyz="0.0 0.0 0.0" rpy="0.0 0.0 0.0"/>
      <mass value="1.0"/>
      <inertia ixx="1.0" ixy="0.0" ixz="0.0" iyy="1.0" iyz="0.0" izz="1.0"/>
    </inertial>
    <visual>
      <origin xyz="0.0 0.0 0.0" rpy="0.0 1.57079632679 0.0"/>
      <geometry>
        <mesh filename="package://iai_kitchen/meshes/oven/Knob.obj"/>
      </geometry>
    </visual>
    <collision>
      <origin xyz="0.0 0.0 0.0" rpy="0.0 1.57079632679 0.0"/>
      <geometry>
        <mesh filename="package://iai_kitchen/meshes/oven/Knob.obj"/>
      </geometry>
    </collision>
  </link>
  <joint name="oven_area_oven_knob_stove_1_joint" type="revolute">
    <origin xyz="0.0 -0.21 0.0" rpy="0.0 -1.57079632679 0.0"/>
    <axis xyz="0.0 0.0 1.0"/>
    <parent link="oven_area_oven_panel"/>
    <child link="oven_area_oven_knob_stove_1"/>
    <limit effort="300.0" lower="0.0" upper="3.14159265359" velocity="10.0"/>
  </joint>
  <link name="oven_area_oven_knob_stove_2">
    <inertial>
      <origin xyz="0.0 0.0 0.0" rpy="0.0 0.0 0.0"/>
      <mass value="1.0"/>
      <inertia ixx="1.0" ixy="0.0" ixz="0.0" iyy="1.0" iyz="0.0" izz="1.0"/>
    </inertial>
    <visual>
      <origin xyz="0.0 0.0 0.0" rpy="0.0 1.57079632679 0.0"/>
      <geometry>
        <mesh filename="package://iai_kitchen/meshes/oven/Knob.obj"/>
      </geometry>
    </visual>
    <collision>
      <origin xyz="0.0 0.0 0.0" rpy="0.0 1.57079632679 0.0"/>
      <geometry>
        <mesh filename="package://iai_kitchen/meshes/oven/Knob.obj"/>
      </geometry>
    </collision>
  </link>
  <joint name="oven_area_oven_knob_stove_2_joint" type="revolute">
    <origin xyz="0.0 -0.14 0.0" rpy="0.0 -1.57079632679 0.0"/>
    <axis xyz="0.0 0.0 1.0"/>
    <parent link="oven_area_oven_panel"/>
    <child link="oven_area_oven_knob_stove_2"/>
    <limit effort="300.0" lower="0.0" upper="3.14159265359" velocity="10.0"/>
  </joint>
  <link name="oven_area_oven_knob_stove_3">
    <inertial>
      <origin xyz="0.0 0.0 0.0" rpy="0.0 0.0 0.0"/>
      <mass value="1.0"/>
      <inertia ixx="1.0" ixy="0.0" ixz="0.0" iyy="1.0" iyz="0.0" izz="1.0"/>
    </inertial>
    <visual>
      <origin xyz="0.0 0.0 0.0" rpy="0.0 1.57079632679 0.0"/>
      <geometry>
        <mesh filename="package://iai_kitchen/meshes/oven/Knob.obj"/>
      </geometry>
    </visual>
    <collision>
      <origin xyz="0.0 0.0 0.0" rpy="0.0 1.57079632679 0.0"/>
      <geometry>
        <mesh filename="package://iai_kitchen/meshes/oven/Knob.obj"/>
      </geometry>
    </collision>
  </link>
  <joint name="oven_area_oven_knob_stove_3_joint" type="revolute">
    <origin xyz="0.0 -0.07 0.0" rpy="0.0 -1.57079632679 0.0"/>
    <axis xyz="0.0 0.0 1.0"/>
    <parent link="oven_area_oven_panel"/>
    <child link="oven_area_oven_knob_stove_3"/>
    <limit effort="300.0" lower="0.0" upper="3.14159265359" velocity="10.0"/>
  </joint>
  <link name="oven_area_oven_knob_stove_4">
    <inertial>
      <origin xyz="0.0 0.0 0.0" rpy="0.0 0.0 0.0"/>
      <mass value="1.0"/>
      <inertia ixx="1.0" ixy="0.0" ixz="0.0" iyy="1.0" iyz="0.0" izz="1.0"/>
    </inertial>
    <visual>
      <origin xyz="0.0 0.0 0.0" rpy="0.0 1.57079632679 0.0"/>
      <geometry>
        <mesh filename="package://iai_kitchen/meshes/oven/Knob.obj"/>
      </geometry>
    </visual>
    <collision>
      <origin xyz="0.0 0.0 0.0" rpy="0.0 1.57079632679 0.0"/>
      <geometry>
        <mesh filename="package://iai_kitchen/meshes/oven/Knob.obj"/>
      </geometry>
    </collision>
  </link>
  <joint name="oven_area_oven_knob_stove_4_joint" type="revolute">
    <origin xyz="0.0 -0.0 0.0" rpy="0.0 -1.57079632679 0.0"/>
    <axis xyz="0.0 0.0 1.0"/>
    <parent link="oven_area_oven_panel"/>
    <child link="oven_area_oven_knob_stove_4"/>
    <limit effort="300.0" lower="0.0" upper="3.14159265359" velocity="10.0"/>
  </joint>
  <link name="oven_area_oven_knob_oven">
    <inertial>
      <origin xyz="0.0 0.0 0.0" rpy="0.0 0.0 0.0"/>
      <mass value="1.0"/>
      <inertia ixx="1.0" ixy="0.0" ixz="0.0" iyy="1.0" iyz="0.0" izz="1.0"/>
    </inertial>
    <visual>
      <origin xyz="0.0 0.0 0.0" rpy="0.0 1.57079632679 0.0"/>
      <geometry>
        <mesh filename="package://iai_kitchen/meshes/oven/Knob.obj"/>
      </geometry>
    </visual>
    <collision>
      <origin xyz="0.0 0.0 0.0" rpy="0.0 1.57079632679 0.0"/>
      <geometry>
        <mesh filename="package://iai_kitchen/meshes/oven/Knob.obj"/>
      </geometry>
    </collision>
  </link>
  <joint name="oven_area_oven_knob_oven_joint" type="revolute">
    <origin xyz="0.0 0.16 0.0" rpy="0.0 -1.57079632679 0.0"/>
    <axis xyz="0.0 0.0 1.0"/>
    <parent link="oven_area_oven_panel"/>
    <child link="oven_area_oven_knob_oven"/>
    <limit effort="300.0" lower="0.0" upper="3.14159265359" velocity="10.0"/>
  </joint>
  <link name="oven_area_area_middle_upper_drawer_main">
    <inertial>
      <origin xyz="0.0 0.0 0.0" rpy="0.0 0.0 0.0"/>
      <mass value="1.0"/>
      <inertia ixx="1.0" ixy="0.0" ixz="0.0" iyy="1.0" iyz="0.0" izz="1.0"/>
    </inertial>
    <visual>
      <origin xyz="0.0 0.0 0.0" rpy="0.0 0.0 0.0"/>
      <geometry>
        <mesh filename="package://iai_kitchen/meshes/drawers/Drawer_60_14.obj"/>
      </geometry>
    </visual>
    <collision>
      <origin xyz="0.0 0.0 0.0" rpy="0.0 0.0 0.0"/>
      <geometry>
        <mesh filename="package://iai_kitchen/meshes/drawers/Drawer_60_14.obj"/>
      </geometry>
    </collision>
  </link>
  <link name="oven_area_area_middle_upper_drawer_handle">
    <inertial>
      <origin xyz="0.0 0.0 0.0" rpy="0.0 0.0 0.0"/>
      <mass value="1.0"/>
      <inertia ixx="1.0" ixy="0.0" ixz="0.0" iyy="1.0" iyz="0.0" izz="1.0"/>
    </inertial>
    <visual>
      <origin xyz="0.0 0.0 0.0" rpy="0.0 0.0 0.0"/>
      <geometry>
        <mesh filename="package://iai_kitchen/meshes/handles/Handle60.obj"/>
      </geometry>
    </visual>
    <collision>
      <origin xyz="0.0 0.0 0.0" rpy="0.0 0.0 0.0"/>
      <geometry>
        <mesh filename="package://iai_kitchen/meshes/handles/Handle60.obj"/>
      </geometry>
    </collision>
  </link>
  <joint name="oven_area_area_middle_upper_drawer_main_joint" type="prismatic">
    <origin xyz="0.0 -0.0 0.045" rpy="0.0 0.0 0.0"/>
    <axis xyz="1.0 0.0 0.0"/>
    <parent link="oven_area_area"/>
    <child link="oven_area_area_middle_upper_drawer_main"/>
    <limit effort="300.0" lower="0.0" upper="0.48" velocity="10.0"/>
  </joint>
  <joint name="oven_area_area_middle_upper_drawer_handle_joint" type="fixed">
    <origin xyz="0.3325 0.0 0.0175" rpy="0.0 0.0 0.0"/>
    <axis xyz="0.0 0.0 1.0"/>
    <parent link="oven_area_area_middle_upper_drawer_main"/>
    <child link="oven_area_area_middle_upper_drawer_handle"/>
    <limit effort="300.0" lower="0.0" upper="1.57079632679" velocity="10.0"/>
  </joint>
  <link name="oven_area_area_middle_lower_drawer_main">
    <inertial>
      <origin xyz="0.0 0.0 0.0" rpy="0.0 0.0 0.0"/>
      <mass value="1.0"/>
      <inertia ixx="1.0" ixy="0.0" ixz="0.0" iyy="1.0" iyz="0.0" izz="1.0"/>
    </inertial>
    <visual>
      <origin xyz="0.0 0.0 0.0" rpy="0.0 0.0 0.0"/>
      <geometry>
        <mesh filename="package://iai_kitchen/meshes/drawers/Drawer_60_58.obj"/>
      </geometry>
    </visual>
    <collision>
      <origin xyz="0.0 0.0 0.0" rpy="0.0 0.0 0.0"/>
      <geometry>
        <mesh filename="package://iai_kitchen/meshes/drawers/Drawer_60_58.obj"/>
      </geometry>
    </collision>
  </link>
  <link name="oven_area_area_middle_lower_drawer_handle">
    <inertial>
      <origin xyz="0.0 0.0 0.0" rpy="0.0 0.0 0.0"/>
      <mass value="1.0"/>
      <inertia ixx="1.0" ixy="0.0" ixz="0.0" iyy="1.0" iyz="0.0" izz="1.0"/>
    </inertial>
    <visual>
      <origin xyz="0.0 0.0 0.0" rpy="0.0 0.0 0.0"/>
      <geometry>
        <mesh filename="package://iai_kitchen/meshes/handles/Handle60.obj"/>
      </geometry>
    </visual>
    <collision>
      <origin xyz="0.0 0.0 0.0" rpy="0.0 0.0 0.0"/>
      <geometry>
        <mesh filename="package://iai_kitchen/meshes/handles/Handle60.obj"/>
      </geometry>
    </collision>
  </link>
  <joint name="oven_area_area_middle_lower_drawer_main_joint" type="prismatic">
    <origin xyz="0.0 -0.0 -0.315" rpy="0.0 0.0 0.0"/>
    <axis xyz="1.0 0.0 0.0"/>
    <parent link="oven_area_area"/>
    <child link="oven_area_area_middle_lower_drawer_main"/>
    <limit effort="300.0" lower="0.0" upper="0.48" velocity="10.0"/>
  </joint>
  <joint name="oven_area_area_middle_lower_drawer_handle_joint" type="fixed">
    <origin xyz="0.3325 0.0 0.2375" rpy="0.0 0.0 0.0"/>
    <axis xyz="0.0 0.0 1.0"/>
    <parent link="oven_area_area_middle_lower_drawer_main"/>
    <child link="oven_area_area_middle_lower_drawer_handle"/>
    <limit effort="300.0" lower="0.0" upper="1.57079632679" velocity="10.0"/>
  </joint>
  <link name="oven_area_area_left_drawer_main">
    <inertial>
      <origin xyz="0.0 0.0 0.0" rpy="0.0 0.0 0.0"/>
      <mass value="1.0"/>
      <inertia ixx="1.0" ixy="0.0" ixz="0.0" iyy="1.0" iyz="0.0" izz="1.0"/>
    </inertial>
    <visual>
      <origin xyz="0.0 0.0 0.0" rpy="0.0 0.0 0.0"/>
      <geometry>
        <mesh filename="package://iai_kitchen/meshes/drawers/VDrawer.obj"/>
      </geometry>
    </visual>
    <collision>
      <origin xyz="0.0 0.0 0.0" rpy="0.0 0.0 0.0"/>
      <geometry>
        <mesh filename="package://iai_kitchen/meshes/drawers/VDrawer.obj"/>
      </geometry>
    </collision>
  </link>
  <link name="oven_area_area_left_drawer_handle">
    <inertial>
      <origin xyz="0.0 0.0 0.0" rpy="0.0 0.0 0.0"/>
      <mass value="1.0"/>
      <inertia ixx="1.0" ixy="0.0" ixz="0.0" iyy="1.0" iyz="0.0" izz="1.0"/>
    </inertial>
    <visual>
      <origin xyz="0.0 0.0 0.0" rpy="0.0 0.0 0.0"/>
      <geometry>
        <mesh filename="package://iai_kitchen/meshes/handles/VHandle130.obj"/>
      </geometry>
    </visual>
    <collision>
      <origin xyz="0.0 0.0 0.0" rpy="0.0 0.0 0.0"/>
      <geometry>
        <mesh filename="package://iai_kitchen/meshes/handles/VHandle130.obj"/>
      </geometry>
    </collision>
  </link>
  <joint name="oven_area_area_left_drawer_main_joint" type="prismatic">
    <origin xyz="0.0 -0.45 0.06" rpy="0.0 0.0 0.0"/>
    <axis xyz="1.0 0.0 0.0"/>
    <parent link="oven_area_area"/>
    <child link="oven_area_area_left_drawer_main"/>
    <limit effort="300.0" lower="0.0" upper="0.48" velocity="10.0"/>
  </joint>
  <joint name="oven_area_area_left_drawer_handle_joint" type="fixed">
    <origin xyz="0.3525 0.0 0.0" rpy="0.0 0.0 0.0"/>
    <axis xyz="0.0 0.0 1.0"/>
    <parent link="oven_area_area_left_drawer_main"/>
    <child link="oven_area_area_left_drawer_handle"/>
    <limit effort="300.0" lower="0.0" upper="1.57079632679" velocity="10.0"/>
  </joint>
  <joint name="oven_area_area_right_drawer_joint" type="prismatic">
    <origin xyz="0.02 0.44 0.05" rpy="0.0 0.0 0.0"/>
    <axis xyz="0.999 0.0 0.044"/>
    <parent link="oven_area_area"/>
    <child link="oven_area_area_right_drawer_main"/>
    <limit effort="300.0" lower="0.0" upper="0.48" velocity="10.0"/>
  </joint>
  <link name="oven_area_area_right_drawer_main">
    <inertial>
      <mass value="0.1"/>
      <inertia ixx="4e-08" ixy="0.0" ixz="0.0" iyy="4e-08" iyz="0.0" izz="4e-08"/>
    </inertial>
  </link>
  <joint name="drawer_oven_right_front_joint" type="fixed">
    <origin xyz="0.25 0.0 0.0" rpy="0.0 0.0 0.0"/>
    <parent link="oven_area_area_right_drawer_main"/>
    <child link="drawer_oven_right_front_link"/>
  </joint>
  <link name="drawer_oven_right_front_link">
    <inertial>
      <mass value="1.0"/>
      <inertia ixx="0.153554166667" ixy="0.0" ixz="0.0" iyy="0.0348041666667" iyz="0.0" izz="0.173854166667"/>
    </inertial>
    <visual>
      <origin xyz="0.0 0.0 0.0" rpy="0.0 0.0 0.0"/>
      <geometry>
        <box size="0.025 0.295 1.325"/>
      </geometry>
    </visual>
    <collision>
      <origin xyz="0.0 0.0 0.0" rpy="0.0 0.0 0.0"/>
      <geometry>
        <box size="0.025 0.3 1.33"/>
      </geometry>
    </collision>
  </link>
  <link name="drawer_oven_right_board0_link">
    <inertial>
      <mass value="1.0"/>
      <inertia ixx="0.153554166667" ixy="0.0" ixz="0.0" iyy="0.0348041666667" iyz="0.0" izz="0.173854166667"/>
    </inertial>
    <visual>
      <origin xyz="0.0 0.0 0.0" rpy="0.0 0.0 0.0"/>
      <geometry>
        <box size="0.49 0.27 0.025"/>
      </geometry>
    </visual>
    <collision>
      <origin xyz="0.0 0.0 0.0" rpy="0.0 0.0 0.0"/>
      <geometry>
        <box size="0.49 0.27 0.025"/>
      </geometry>
    </collision>
  </link>
  <joint name="drawer_oven_right_board0_joint" type="fixed">
    <origin xyz="0.0 0.0 -0.655" rpy="0 0 0"/>
    <parent link="oven_area_area_right_drawer_main"/>
    <child link="drawer_oven_right_board0_link"/>
  </joint>
  <link name="drawer_oven_right_board0_barrier_right_link">
    <inertial>
      <mass value="1.0"/>
      <inertia ixx="0.153554166667" ixy="0.0" ixz="0.0" iyy="0.0348041666667" iyz="0.0" izz="0.173854166667"/>
    </inertial>
    <visual>
      <origin xyz="0.0 0.0 0.0" rpy="0.0 0.0 0.0"/>
      <geometry>
        <box size="0.49 0.02 0.05"/>
      </geometry>
    </visual>
    <collision>
      <origin xyz="0.0 0.0 0.0" rpy="0.0 0.0 0.0"/>
      <geometry>
        <box size="0.49 0.02 0.05"/>
      </geometry>
    </collision>
  </link>
  <joint name="drawer_oven_right_board0_barrier_right_joint" type="fixed">
    <origin xyz="0.0 -0.135 -0.62" rpy="0 0 0"/>
    <parent link="oven_area_area_right_drawer_main"/>
    <child link="drawer_oven_right_board0_barrier_right_link"/>
  </joint>
  <link name="drawer_oven_right_board0_barrier_left_link">
    <inertial>
      <mass value="1.0"/>
      <inertia ixx="0.153554166667" ixy="0.0" ixz="0.0" iyy="0.0348041666667" iyz="0.0" izz="0.173854166667"/>
    </inertial>
    <visual>
      <origin xyz="0.0 0.0 0.0" rpy="0.0 0.0 0.0"/>
      <geometry>
        <box size="0.49 0.02 0.05"/>
      </geometry>
    </visual>
    <collision>
      <origin xyz="0.0 0.0 0.0" rpy="0.0 0.0 0.0"/>
      <geometry>
        <box size="0.49 0.02 0.05"/>
      </geometry>
    </collision>
  </link>
  <joint name="drawer_oven_right_board0_barrier_left_joint" type="fixed">
    <origin xyz="0.0 0.135 -0.62" rpy="0 0 0"/>
    <parent link="oven_area_area_right_drawer_main"/>
    <child link="drawer_oven_right_board0_barrier_left_link"/>
  </joint>
  <link name="drawer_oven_right_board1_link">
    <inertial>
      <mass value="1.0"/>
      <inertia ixx="0.153554166667" ixy="0.0" ixz="0.0" iyy="0.0348041666667" iyz="0.0" izz="0.173854166667"/>
    </inertial>
    <visual>
      <origin xyz="0.0 0.0 0.0" rpy="0.0 0.0 0.0"/>
      <geometry>
        <box size="0.49 0.27 0.025"/>
      </geometry>
    </visual>
    <collision>
      <origin xyz="0.0 0.0 0.0" rpy="0.0 0.0 0.0"/>
      <geometry>
        <box size="0.49 0.27 0.025"/>
      </geometry>
    </collision>
  </link>
  <joint name="drawer_oven_right_board1_joint" type="fixed">
    <origin xyz="0.0 0.0 -0.33" rpy="0 0 0"/>
    <parent link="oven_area_area_right_drawer_main"/>
    <child link="drawer_oven_right_board1_link"/>
  </joint>
  <link name="drawer_oven_right_board1_barrier_right_link">
    <inertial>
      <mass value="1.0"/>
      <inertia ixx="0.153554166667" ixy="0.0" ixz="0.0" iyy="0.0348041666667" iyz="0.0" izz="0.173854166667"/>
    </inertial>
    <visual>
      <origin xyz="0.0 0.0 0.0" rpy="0.0 0.0 0.0"/>
      <geometry>
        <box size="0.49 0.02 0.05"/>
      </geometry>
    </visual>
    <collision>
      <origin xyz="0.0 0.0 0.0" rpy="0.0 0.0 0.0"/>
      <geometry>
        <box size="0.49 0.02 0.05"/>
      </geometry>
    </collision>
  </link>
  <joint name="drawer_oven_right_board1_barrier_right_joint" type="fixed">
    <origin xyz="0.0 -0.135 -0.295" rpy="0 0 0"/>
    <parent link="oven_area_area_right_drawer_main"/>
    <child link="drawer_oven_right_board1_barrier_right_link"/>
  </joint>
  <link name="drawer_oven_right_board1_barrier_left_link">
    <inertial>
      <mass value="1.0"/>
      <inertia ixx="0.153554166667" ixy="0.0" ixz="0.0" iyy="0.0348041666667" iyz="0.0" izz="0.173854166667"/>
    </inertial>
    <visual>
      <origin xyz="0.0 0.0 0.0" rpy="0.0 0.0 0.0"/>
      <geometry>
        <box size="0.49 0.02 0.05"/>
      </geometry>
    </visual>
    <collision>
      <origin xyz="0.0 0.0 0.0" rpy="0.0 0.0 0.0"/>
      <geometry>
        <box size="0.49 0.02 0.05"/>
      </geometry>
    </collision>
  </link>
  <joint name="drawer_oven_right_board1_barrier_left_joint" type="fixed">
    <origin xyz="0.0 0.135 -0.295" rpy="0 0 0"/>
    <parent link="oven_area_area_right_drawer_main"/>
    <child link="drawer_oven_right_board1_barrier_left_link"/>
  </joint>
  <link name="drawer_oven_right_board2_link">
    <inertial>
      <mass value="1.0"/>
      <inertia ixx="0.153554166667" ixy="0.0" ixz="0.0" iyy="0.0348041666667" iyz="0.0" izz="0.173854166667"/>
    </inertial>
    <visual>
      <origin xyz="0.0 0.0 0.0" rpy="0.0 0.0 0.0"/>
      <geometry>
        <box size="0.49 0.27 0.025"/>
      </geometry>
    </visual>
    <collision>
      <origin xyz="0.0 0.0 0.0" rpy="0.0 0.0 0.0"/>
      <geometry>
        <box size="0.49 0.27 0.025"/>
      </geometry>
    </collision>
  </link>
  <joint name="drawer_oven_right_board2_joint" type="fixed">
    <origin xyz="0.0 0.0 0.0" rpy="0 0 0"/>
    <parent link="oven_area_area_right_drawer_main"/>
    <child link="drawer_oven_right_board2_link"/>
  </joint>
  <link name="drawer_oven_right_board2_barrier_right_link">
    <inertial>
      <mass value="1.0"/>
      <inertia ixx="0.153554166667" ixy="0.0" ixz="0.0" iyy="0.0348041666667" iyz="0.0" izz="0.173854166667"/>
    </inertial>
    <visual>
      <origin xyz="0.0 0.0 0.0" rpy="0.0 0.0 0.0"/>
      <geometry>
        <box size="0.49 0.02 0.05"/>
      </geometry>
    </visual>
    <collision>
      <origin xyz="0.0 0.0 0.0" rpy="0.0 0.0 0.0"/>
      <geometry>
        <box size="0.49 0.02 0.05"/>
      </geometry>
    </collision>
  </link>
  <joint name="drawer_oven_right_board2_barrier_right_joint" type="fixed">
    <origin xyz="0.0 -0.135 0.035" rpy="0 0 0"/>
    <parent link="oven_area_area_right_drawer_main"/>
    <child link="drawer_oven_right_board2_barrier_right_link"/>
  </joint>
  <link name="drawer_oven_right_board2_barrier_left_link">
    <inertial>
      <mass value="1.0"/>
      <inertia ixx="0.153554166667" ixy="0.0" ixz="0.0" iyy="0.0348041666667" iyz="0.0" izz="0.173854166667"/>
    </inertial>
    <visual>
      <origin xyz="0.0 0.0 0.0" rpy="0.0 0.0 0.0"/>
      <geometry>
        <box size="0.49 0.02 0.05"/>
      </geometry>
    </visual>
    <collision>
      <origin xyz="0.0 0.0 0.0" rpy="0.0 0.0 0.0"/>
      <geometry>
        <box size="0.49 0.02 0.05"/>
      </geometry>
    </collision>
  </link>
  <joint name="drawer_oven_right_board2_barrier_left_joint" type="fixed">
    <origin xyz="0.0 0.135 0.035" rpy="0 0 0"/>
    <parent link="oven_area_area_right_drawer_main"/>
    <child link="drawer_oven_right_board2_barrier_left_link"/>
  </joint>
  <link name="drawer_oven_right_board3_link">
    <inertial>
      <mass value="1.0"/>
      <inertia ixx="0.153554166667" ixy="0.0" ixz="0.0" iyy="0.0348041666667" iyz="0.0" izz="0.173854166667"/>
    </inertial>
    <visual>
      <origin xyz="0.0 0.0 0.0" rpy="0.0 0.0 0.0"/>
      <geometry>
        <box size="0.49 0.27 0.025"/>
      </geometry>
    </visual>
    <collision>
      <origin xyz="0.0 0.0 0.0" rpy="0.0 0.0 0.0"/>
      <geometry>
        <box size="0.49 0.27 0.025"/>
      </geometry>
    </collision>
  </link>
  <joint name="drawer_oven_right_board3_joint" type="fixed">
    <origin xyz="0.0 0.0 0.33" rpy="0 0 0"/>
    <parent link="oven_area_area_right_drawer_main"/>
    <child link="drawer_oven_right_board3_link"/>
  </joint>
  <link name="drawer_oven_right_board3_barrier_right_link">
    <inertial>
      <mass value="1.0"/>
      <inertia ixx="0.153554166667" ixy="0.0" ixz="0.0" iyy="0.0348041666667" iyz="0.0" izz="0.173854166667"/>
    </inertial>
    <visual>
      <origin xyz="0.0 0.0 0.0" rpy="0.0 0.0 0.0"/>
      <geometry>
        <box size="0.49 0.02 0.05"/>
      </geometry>
    </visual>
    <collision>
      <origin xyz="0.0 0.0 0.0" rpy="0.0 0.0 0.0"/>
      <geometry>
        <box size="0.49 0.02 0.05"/>
      </geometry>
    </collision>
  </link>
  <joint name="drawer_oven_right_board3_barrier_right_joint" type="fixed">
    <origin xyz="0.0 -0.135 0.365" rpy="0 0 0"/>
    <parent link="oven_area_area_right_drawer_main"/>
    <child link="drawer_oven_right_board3_barrier_right_link"/>
  </joint>
  <link name="drawer_oven_right_board3_barrier_left_link">
    <inertial>
      <mass value="1.0"/>
      <inertia ixx="0.153554166667" ixy="0.0" ixz="0.0" iyy="0.0348041666667" iyz="0.0" izz="0.173854166667"/>
    </inertial>
    <visual>
      <origin xyz="0.0 0.0 0.0" rpy="0.0 0.0 0.0"/>
      <geometry>
        <box size="0.49 0.02 0.05"/>
      </geometry>
    </visual>
    <collision>
      <origin xyz="0.0 0.0 0.0" rpy="0.0 0.0 0.0"/>
      <geometry>
        <box size="0.49 0.02 0.05"/>
      </geometry>
    </collision>
  </link>
  <joint name="drawer_oven_right_board3_barrier_left_joint" type="fixed">
    <origin xyz="0.0 0.135 0.365" rpy="0 0 0"/>
    <parent link="oven_area_area_right_drawer_main"/>
    <child link="drawer_oven_right_board3_barrier_left_link"/>
  </joint>
  <joint name="oven_area_area_right_drawer_handle_joint" type="fixed">
    <origin xyz="0.05 0.0 0.0" rpy="0.0 0.0 0.0"/>
    <parent link="drawer_oven_right_front_link"/>
    <child link="oven_area_area_right_drawer_handle"/>
  </joint>
  <link name="oven_area_area_right_drawer_handle">
    <inertial>
      <mass value="0.1"/>
      <inertia ixx="0.0127110416667" ixy="0.0" ixz="0.0" iyy="1.66666666667e-06" iyz="0.0" izz="0.0127110416667"/>
    </inertial>
    <visual>
      <origin xyz="0.0 0.0 0.0" rpy="0.0 0.0 0.0"/>
      <geometry>
        <box size="0.01 0.01 1.235"/>
      </geometry>
    </visual>
    <collision>
      <origin xyz="0.0 0.0 0.0" rpy="0.0 0.0 0.0"/>
      <geometry>
        <box size="0.015 0.015 1.24"/>
      </geometry>
    </collision>
  </link>
  <link name="kitchen_island_footprint">
    <inertial>
      <origin xyz="0.0 0.0 0.0" rpy="0.0 0.0 0.0"/>
      <mass value="1.0"/>
      <inertia ixx="1.0" ixy="0.0" ixz="0.0" iyy="1.0" iyz="0.0" izz="1.0"/>
    </inertial>
  </link>
  <link name="kitchen_island">
    <inertial>
      <origin xyz="0.0 0.0 0.0" rpy="0.0 0.0 0.0"/>
      <mass value="1.0"/>
      <inertia ixx="1.0" ixy="0.0" ixz="0.0" iyy="1.0" iyz="0.0" izz="1.0"/>
    </inertial>
    <visual>
      <origin xyz="0.0 0.0 0.0" rpy="0.0 0.0 0.0"/>
      <geometry>
        <mesh filename="package://iai_kitchen/meshes/racks/IslandArea.obj"/>
      </geometry>
    </visual>
    <collision>
      <origin xyz="0.0 0.0 0.0" rpy="0.0 0.0 0.0"/>
      <geometry>
        <mesh filename="package://iai_kitchen/meshes/racks/IslandArea.obj"/>
      </geometry>
    </collision>
  </link>
  <joint name="kitchen_island_footprint_joint" type="fixed">
    <origin xyz="-1.365 0.64 0.0" rpy="0.0 0.0 0.0"/>
    <parent link="kitchen_main"/>
    <child link="kitchen_island_footprint"/>
  </joint>
  <joint name="kitchen_island_joint" type="fixed">
    <origin xyz="0.2975 1.05 0.421" rpy="0.0 0.0 0.0"/>
    <parent link="kitchen_island_footprint"/>
    <child link="kitchen_island"/>
  </joint>
  <link name="kitchen_island_surface">
    <inertial>
      <origin xyz="0.0 0.0 0.0" rpy="0.0 0.0 0.0"/>
      <mass value="1.0"/>
      <inertia ixx="1.0" ixy="0.0" ixz="0.0" iyy="1.0" iyz="0.0" izz="1.0"/>
    </inertial>
    <collision>
      <origin xyz="0.0 0.0 0.0" rpy="0.0 0.0 0.0"/>
      <geometry>
        <box size="0.8 2.45 0.02"/>
      </geometry>
    </collision>
  </link>
  <joint name="kitchen_island_surface_joint" type="fixed">
    <origin xyz="0.0 0.0 0.42" rpy="0.0 0.0 0.0"/>
    <parent link="kitchen_island"/>
    <child link="kitchen_island_surface"/>
  </joint>
  <link name="kitchen_island_stove">
    <inertial>
      <origin xyz="0.0 0.0 0.0" rpy="0.0 0.0 0.0"/>
      <mass value="1.0"/>
      <inertia ixx="1.0" ixy="0.0" ixz="0.0" iyy="1.0" iyz="0.0" izz="1.0"/>
    </inertial>
    <visual>
      <origin xyz="0.0 0.0 0.0" rpy="0.0 0.0 0.0"/>
      <geometry>
        <mesh filename="package://iai_kitchen/meshes/misc/Stove.obj"/>
      </geometry>
    </visual>
    <collision>
      <origin xyz="0.0 0.0 0.0" rpy="0.0 0.0 0.0"/>
      <geometry>
        <mesh filename="package://iai_kitchen/meshes/misc/Stove.obj"/>
      </geometry>
    </collision>
  </link>
  <joint name="kitchen_island_stove_joint" type="fixed">
    <origin xyz="0.0 0.7658 0.4315" rpy="0.0 0.0 0.0"/>
    <parent link="kitchen_island"/>
    <child link="kitchen_island_stove"/>
  </joint>
  <link name="kitchen_island_left_panel">
    <inertial>
      <origin xyz="0.0 0.0 0.0" rpy="0.0 0.0 0.0"/>
      <mass value="1.0"/>
      <inertia ixx="1.0" ixy="0.0" ixz="0.0" iyy="1.0" iyz="0.0" izz="1.0"/>
    </inertial>
    <visual>
      <origin xyz="0.0 0.0 0.0" rpy="0.0 0.0 0.0"/>
      <geometry>
        <mesh filename="package://iai_kitchen/meshes/drawers/Panel_60.obj"/>
      </geometry>
    </visual>
    <collision>
      <origin xyz="0.0 0.0 0.0" rpy="0.0 0.0 0.0"/>
      <geometry>
        <mesh filename="package://iai_kitchen/meshes/drawers/Panel_60.obj"/>
      </geometry>
    </collision>
  </link>
  <joint name="kitchen_island_left_panel_joint" type="fixed">
    <origin xyz="0.2725 -0.8 0.329" rpy="0.0 0.0 0.0"/>
    <parent link="kitchen_island"/>
    <child link="kitchen_island_left_panel"/>
  </joint>
  <link name="kitchen_island_left_upper_drawer_main">
    <inertial>
      <origin xyz="0.0 0.0 0.0" rpy="0.0 0.0 0.0"/>
      <mass value="1.0"/>
      <inertia ixx="1.0" ixy="0.0" ixz="0.0" iyy="1.0" iyz="0.0" izz="1.0"/>
    </inertial>
    <visual>
      <origin xyz="0.0 0.0 0.0" rpy="0.0 0.0 0.0"/>
      <geometry>
        <mesh filename="package://iai_kitchen/meshes/drawers/Drawer_60_29.obj"/>
      </geometry>
    </visual>
    <collision>
      <origin xyz="0.0 0.0 0.0" rpy="0.0 0.0 0.0"/>
      <geometry>
        <mesh filename="package://iai_kitchen/meshes/drawers/Drawer_60_29.obj"/>
      </geometry>
    </collision>
  </link>
  <link name="kitchen_island_left_upper_drawer_handle">
    <inertial>
      <origin xyz="0.0 0.0 0.0" rpy="0.0 0.0 0.0"/>
      <mass value="1.0"/>
      <inertia ixx="1.0" ixy="0.0" ixz="0.0" iyy="1.0" iyz="0.0" izz="1.0"/>
    </inertial>
    <visual>
      <origin xyz="0.0 0.0 0.0" rpy="0.0 0.0 0.0"/>
      <geometry>
        <mesh filename="package://iai_kitchen/meshes/handles/Handle60.obj"/>
      </geometry>
    </visual>
    <collision>
      <origin xyz="0.0 0.0 0.0" rpy="0.0 0.0 0.0"/>
      <geometry>
        <mesh filename="package://iai_kitchen/meshes/handles/Handle60.obj"/>
      </geometry>
    </collision>
  </link>
  <joint name="kitchen_island_left_upper_drawer_main_joint" type="prismatic">
    <origin xyz="0.0025 -0.8 0.114" rpy="0.0 0.0 0.0"/>
    <axis xyz="1.0 0.0 0.0"/>
    <parent link="kitchen_island"/>
    <child link="kitchen_island_left_upper_drawer_main"/>
    <limit effort="300.0" lower="0.0" upper="0.48" velocity="10.0"/>
  </joint>
  <joint name="kitchen_island_left_upper_drawer_handle_joint" type="fixed">
    <origin xyz="0.3325 0.0 0.11" rpy="0.0 0.0 0.0"/>
    <axis xyz="0.0 0.0 1.0"/>
    <parent link="kitchen_island_left_upper_drawer_main"/>
    <child link="kitchen_island_left_upper_drawer_handle"/>
    <limit effort="300.0" lower="0.0" upper="1.57079632679" velocity="10.0"/>
  </joint>
  <link name="kitchen_island_left_lower_drawer_main">
    <inertial>
      <origin xyz="0.0 0.0 0.0" rpy="0.0 0.0 0.0"/>
      <mass value="1.0"/>
      <inertia ixx="1.0" ixy="0.0" ixz="0.0" iyy="1.0" iyz="0.0" izz="1.0"/>
    </inertial>
    <visual>
      <origin xyz="0.0 0.0 0.0" rpy="0.0 0.0 0.0"/>
      <geometry>
        <mesh filename="package://iai_kitchen/meshes/drawers/Drawer_60_29.obj"/>
      </geometry>
    </visual>
    <collision>
      <origin xyz="0.0 0.0 0.0" rpy="0.0 0.0 0.0"/>
      <geometry>
        <mesh filename="package://iai_kitchen/meshes/drawers/Drawer_60_29.obj"/>
      </geometry>
    </collision>
  </link>
  <link name="kitchen_island_left_lower_drawer_handle">
    <inertial>
      <origin xyz="0.0 0.0 0.0" rpy="0.0 0.0 0.0"/>
      <mass value="1.0"/>
      <inertia ixx="1.0" ixy="0.0" ixz="0.0" iyy="1.0" iyz="0.0" izz="1.0"/>
    </inertial>
    <visual>
      <origin xyz="0.0 0.0 0.0" rpy="0.0 0.0 0.0"/>
      <geometry>
        <mesh filename="package://iai_kitchen/meshes/handles/Handle60.obj"/>
      </geometry>
    </visual>
    <collision>
      <origin xyz="0.0 0.0 0.0" rpy="0.0 0.0 0.0"/>
      <geometry>
        <mesh filename="package://iai_kitchen/meshes/handles/Handle60.obj"/>
      </geometry>
    </collision>
  </link>
  <joint name="kitchen_island_left_lower_drawer_main_joint" type="prismatic">
    <origin xyz="0.0025 -0.8 -0.176" rpy="0.0 0.0 0.0"/>
    <axis xyz="1.0 0.0 0.0"/>
    <parent link="kitchen_island"/>
    <child link="kitchen_island_left_lower_drawer_main"/>
    <limit effort="300.0" lower="0.0" upper="0.48" velocity="10.0"/>
  </joint>
  <joint name="kitchen_island_left_lower_drawer_handle_joint" type="fixed">
    <origin xyz="0.3325 0.0 0.11" rpy="0.0 0.0 0.0"/>
    <axis xyz="0.0 0.0 1.0"/>
    <parent link="kitchen_island_left_lower_drawer_main"/>
    <child link="kitchen_island_left_lower_drawer_handle"/>
    <limit effort="300.0" lower="0.0" upper="1.57079632679" velocity="10.0"/>
  </joint>
  <link name="kitchen_island_middle_panel">
    <inertial>
      <origin xyz="0.0 0.0 0.0" rpy="0.0 0.0 0.0"/>
      <mass value="1.0"/>
      <inertia ixx="1.0" ixy="0.0" ixz="0.0" iyy="1.0" iyz="0.0" izz="1.0"/>
    </inertial>
    <visual>
      <origin xyz="0.0 0.0 0.0" rpy="0.0 0.0 0.0"/>
      <geometry>
        <mesh filename="package://iai_kitchen/meshes/drawers/Panel_100.obj"/>
      </geometry>
    </visual>
    <collision>
      <origin xyz="0.0 0.0 0.0" rpy="0.0 0.0 0.0"/>
      <geometry>
        <mesh filename="package://iai_kitchen/meshes/drawers/Panel_100.obj"/>
      </geometry>
    </collision>
  </link>
  <joint name="kitchen_island_middle_panel_joint" type="fixed">
    <origin xyz="0.2725 0.0 0.329" rpy="0.0 0.0 0.0"/>
    <parent link="kitchen_island"/>
    <child link="kitchen_island_middle_panel"/>
  </joint>
  <link name="kitchen_island_middle_upper_drawer_main">
    <inertial>
      <origin xyz="0.0 0.0 0.0" rpy="0.0 0.0 0.0"/>
      <mass value="1.0"/>
      <inertia ixx="1.0" ixy="0.0" ixz="0.0" iyy="1.0" iyz="0.0" izz="1.0"/>
    </inertial>
    <visual>
      <origin xyz="0.0 0.0 0.0" rpy="0.0 0.0 0.0"/>
      <geometry>
        <mesh filename="package://iai_kitchen/meshes/drawers/Drawer_100_29.obj"/>
      </geometry>
    </visual>
    <collision>
      <origin xyz="0.0 0.0 0.0" rpy="0.0 0.0 0.0"/>
      <geometry>
        <mesh filename="package://iai_kitchen/meshes/drawers/Drawer_100_29.obj"/>
      </geometry>
    </collision>
  </link>
  <link name="kitchen_island_middle_upper_drawer_handle">
    <inertial>
      <origin xyz="0.0 0.0 0.0" rpy="0.0 0.0 0.0"/>
      <mass value="1.0"/>
      <inertia ixx="1.0" ixy="0.0" ixz="0.0" iyy="1.0" iyz="0.0" izz="1.0"/>
    </inertial>
    <visual>
      <origin xyz="0.0 0.0 0.0" rpy="0.0 0.0 0.0"/>
      <geometry>
        <mesh filename="package://iai_kitchen/meshes/handles/Handle100.obj"/>
      </geometry>
    </visual>
    <collision>
      <origin xyz="0.0 0.0 0.0" rpy="0.0 0.0 0.0"/>
      <geometry>
        <mesh filename="package://iai_kitchen/meshes/handles/Handle100.obj"/>
      </geometry>
    </collision>
  </link>
  <joint name="kitchen_island_middle_upper_drawer_main_joint" type="prismatic">
    <origin xyz="0.0025 0.0 0.114" rpy="0.0 0.0 0.0"/>
    <axis xyz="1.0 0.0 0.0"/>
    <parent link="kitchen_island"/>
    <child link="kitchen_island_middle_upper_drawer_main"/>
    <limit effort="300.0" lower="0.0" upper="0.48" velocity="10.0"/>
  </joint>
  <joint name="kitchen_island_middle_upper_drawer_handle_joint" type="fixed">
    <origin xyz="0.3325 0.0 0.11" rpy="0.0 0.0 0.0"/>
    <axis xyz="0.0 0.0 1.0"/>
    <parent link="kitchen_island_middle_upper_drawer_main"/>
    <child link="kitchen_island_middle_upper_drawer_handle"/>
    <limit effort="300.0" lower="0.0" upper="1.57079632679" velocity="10.0"/>
  </joint>
  <link name="kitchen_island_middle_lower_drawer_main">
    <inertial>
      <origin xyz="0.0 0.0 0.0" rpy="0.0 0.0 0.0"/>
      <mass value="1.0"/>
      <inertia ixx="1.0" ixy="0.0" ixz="0.0" iyy="1.0" iyz="0.0" izz="1.0"/>
    </inertial>
    <visual>
      <origin xyz="0.0 0.0 0.0" rpy="0.0 0.0 0.0"/>
      <geometry>
        <mesh filename="package://iai_kitchen/meshes/drawers/Drawer_100_29.obj"/>
      </geometry>
    </visual>
    <collision>
      <origin xyz="0.0 0.0 0.0" rpy="0.0 0.0 0.0"/>
      <geometry>
        <mesh filename="package://iai_kitchen/meshes/drawers/Drawer_100_29.obj"/>
      </geometry>
    </collision>
  </link>
  <link name="kitchen_island_middle_lower_drawer_handle">
    <inertial>
      <origin xyz="0.0 0.0 0.0" rpy="0.0 0.0 0.0"/>
      <mass value="1.0"/>
      <inertia ixx="1.0" ixy="0.0" ixz="0.0" iyy="1.0" iyz="0.0" izz="1.0"/>
    </inertial>
    <visual>
      <origin xyz="0.0 0.0 0.0" rpy="0.0 0.0 0.0"/>
      <geometry>
        <mesh filename="package://iai_kitchen/meshes/handles/Handle100.obj"/>
      </geometry>
    </visual>
    <collision>
      <origin xyz="0.0 0.0 0.0" rpy="0.0 0.0 0.0"/>
      <geometry>
        <mesh filename="package://iai_kitchen/meshes/handles/Handle100.obj"/>
      </geometry>
    </collision>
  </link>
  <joint name="kitchen_island_middle_lower_drawer_main_joint" type="prismatic">
    <origin xyz="0.0025 0.0 -0.176" rpy="0.0 0.0 0.0"/>
    <axis xyz="1.0 0.0 0.0"/>
    <parent link="kitchen_island"/>
    <child link="kitchen_island_middle_lower_drawer_main"/>
    <limit effort="300.0" lower="0.0" upper="0.48" velocity="10.0"/>
  </joint>
  <joint name="kitchen_island_middle_lower_drawer_handle_joint" type="fixed">
    <origin xyz="0.3325 0.0 0.11" rpy="0.0 0.0 0.0"/>
    <axis xyz="0.0 0.0 1.0"/>
    <parent link="kitchen_island_middle_lower_drawer_main"/>
    <child link="kitchen_island_middle_lower_drawer_handle"/>
    <limit effort="300.0" lower="0.0" upper="1.57079632679" velocity="10.0"/>
  </joint>
  <link name="kitchen_island_right_panel">
    <inertial>
      <origin xyz="0.0 0.0 0.0" rpy="0.0 0.0 0.0"/>
      <mass value="1.0"/>
      <inertia ixx="1.0" ixy="0.0" ixz="0.0" iyy="1.0" iyz="0.0" izz="1.0"/>
    </inertial>
    <visual>
      <origin xyz="0.0 0.0 0.0" rpy="0.0 0.0 0.0"/>
      <geometry>
        <mesh filename="package://iai_kitchen/meshes/drawers/Panel_60.obj"/>
      </geometry>
    </visual>
    <collision>
      <origin xyz="0.0 0.0 0.0" rpy="0.0 0.0 0.0"/>
      <geometry>
        <mesh filename="package://iai_kitchen/meshes/drawers/Panel_60.obj"/>
      </geometry>
    </collision>
  </link>
  <joint name="kitchen_island_right_panel_joint" type="fixed">
    <origin xyz="0.2725 0.8 0.329" rpy="0.0 0.0 0.0"/>
    <parent link="kitchen_island"/>
    <child link="kitchen_island_right_panel"/>
  </joint>
  <link name="kitchen_island_right_upper_drawer_main">
    <inertial>
      <origin xyz="0.0 0.0 0.0" rpy="0.0 0.0 0.0"/>
      <mass value="1.0"/>
      <inertia ixx="1.0" ixy="0.0" ixz="0.0" iyy="1.0" iyz="0.0" izz="1.0"/>
    </inertial>
    <visual>
      <origin xyz="0.0 0.0 0.0" rpy="0.0 0.0 0.0"/>
      <geometry>
        <mesh filename="package://iai_kitchen/meshes/drawers/Drawer_60_29.obj"/>
      </geometry>
    </visual>
    <collision>
      <origin xyz="0.0 0.0 0.0" rpy="0.0 0.0 0.0"/>
      <geometry>
        <mesh filename="package://iai_kitchen/meshes/drawers/Drawer_60_29.obj"/>
      </geometry>
    </collision>
  </link>
  <link name="kitchen_island_right_upper_drawer_handle">
    <inertial>
      <origin xyz="0.0 0.0 0.0" rpy="0.0 0.0 0.0"/>
      <mass value="1.0"/>
      <inertia ixx="1.0" ixy="0.0" ixz="0.0" iyy="1.0" iyz="0.0" izz="1.0"/>
    </inertial>
    <visual>
      <origin xyz="0.0 0.0 0.0" rpy="0.0 0.0 0.0"/>
      <geometry>
        <mesh filename="package://iai_kitchen/meshes/handles/Handle60.obj"/>
      </geometry>
    </visual>
    <collision>
      <origin xyz="0.0 0.0 0.0" rpy="0.0 0.0 0.0"/>
      <geometry>
        <mesh filename="package://iai_kitchen/meshes/handles/Handle60.obj"/>
      </geometry>
    </collision>
  </link>
  <joint name="kitchen_island_right_upper_drawer_main_joint" type="prismatic">
    <origin xyz="0.0025 0.8 0.114" rpy="0.0 0.0 0.0"/>
    <axis xyz="1.0 0.0 0.0"/>
    <parent link="kitchen_island"/>
    <child link="kitchen_island_right_upper_drawer_main"/>
    <limit effort="300.0" lower="0.0" upper="0.48" velocity="10.0"/>
  </joint>
  <joint name="kitchen_island_right_upper_drawer_handle_joint" type="fixed">
    <origin xyz="0.3325 0.0 0.11" rpy="0.0 0.0 0.0"/>
    <axis xyz="0.0 0.0 1.0"/>
    <parent link="kitchen_island_right_upper_drawer_main"/>
    <child link="kitchen_island_right_upper_drawer_handle"/>
    <limit effort="300.0" lower="0.0" upper="1.57079632679" velocity="10.0"/>
  </joint>
  <link name="kitchen_island_right_lower_drawer_main">
    <inertial>
      <origin xyz="0.0 0.0 0.0" rpy="0.0 0.0 0.0"/>
      <mass value="1.0"/>
      <inertia ixx="1.0" ixy="0.0" ixz="0.0" iyy="1.0" iyz="0.0" izz="1.0"/>
    </inertial>
    <visual>
      <origin xyz="0.0 0.0 0.0" rpy="0.0 0.0 0.0"/>
      <geometry>
        <mesh filename="package://iai_kitchen/meshes/drawers/Drawer_60_29.obj"/>
      </geometry>
    </visual>
    <collision>
      <origin xyz="0.0 0.0 0.0" rpy="0.0 0.0 0.0"/>
      <geometry>
        <mesh filename="package://iai_kitchen/meshes/drawers/Drawer_60_29.obj"/>
      </geometry>
    </collision>
  </link>
  <link name="kitchen_island_right_lower_drawer_handle">
    <inertial>
      <origin xyz="0.0 0.0 0.0" rpy="0.0 0.0 0.0"/>
      <mass value="1.0"/>
      <inertia ixx="1.0" ixy="0.0" ixz="0.0" iyy="1.0" iyz="0.0" izz="1.0"/>
    </inertial>
    <visual>
      <origin xyz="0.0 0.0 0.0" rpy="0.0 0.0 0.0"/>
      <geometry>
        <mesh filename="package://iai_kitchen/meshes/handles/Handle60.obj"/>
      </geometry>
    </visual>
    <collision>
      <origin xyz="0.0 0.0 0.0" rpy="0.0 0.0 0.0"/>
      <geometry>
        <mesh filename="package://iai_kitchen/meshes/handles/Handle60.obj"/>
      </geometry>
    </collision>
  </link>
  <joint name="kitchen_island_right_lower_drawer_main_joint" type="prismatic">
    <origin xyz="0.0025 0.8 -0.176" rpy="0.0 0.0 0.0"/>
    <axis xyz="1.0 0.0 0.0"/>
    <parent link="kitchen_island"/>
    <child link="kitchen_island_right_lower_drawer_main"/>
    <limit effort="300.0" lower="0.0" upper="0.48" velocity="10.0"/>
  </joint>
  <joint name="kitchen_island_right_lower_drawer_handle_joint" type="fixed">
    <origin xyz="0.3325 0.0 0.11" rpy="0.0 0.0 0.0"/>
    <axis xyz="0.0 0.0 1.0"/>
    <parent link="kitchen_island_right_lower_drawer_main"/>
    <child link="kitchen_island_right_lower_drawer_handle"/>
    <limit effort="300.0" lower="0.0" upper="1.57079632679" velocity="10.0"/>
  </joint>
  <link name="fridge_area_footprint">
    <inertial>
      <origin xyz="0.0 0.0 0.0" rpy="0.0 0.0 0.0"/>
      <mass value="1.0"/>
      <inertia ixx="1.0" ixy="0.0" ixz="0.0" iyy="1.0" iyz="0.0" izz="1.0"/>
    </inertial>
  </link>
  <link name="fridge_area">
    <inertial>
      <origin xyz="0.0 0.0 0.0" rpy="0.0 0.0 0.0"/>
      <mass value="1.0"/>
      <inertia ixx="1.0" ixy="0.0" ixz="0.0" iyy="1.0" iyz="0.0" izz="1.0"/>
    </inertial>
    <visual>
      <origin xyz="0.0 0.0 0.01" rpy="0.0 0.0 0.0"/>
      <geometry>
        <mesh filename="package://iai_kitchen/meshes/racks/FridgeArea.obj"/>
      </geometry>
    </visual>
    <collision>
      <origin xyz="0.0 0.0 0.01" rpy="0.0 0.0 0.0"/>
      <geometry>
        <mesh filename="package://iai_kitchen/meshes/racks/FridgeArea.obj"/>
      </geometry>
    </collision>
  </link>
  <joint name="fridge_area_footprint_joint" type="fixed">
    <origin xyz="1.825 -0.74 0.0" rpy="0.0 0.0 3.14159265359"/>
    <parent link="kitchen_main"/>
    <child link="fridge_area_footprint"/>
  </joint>
  <joint name="fridge_area_main_joint" type="fixed">
    <origin xyz="0.29 0.3 0.74" rpy="0.0 0.0 0.0"/>
    <parent link="fridge_area_footprint"/>
    <child link="fridge_area"/>
  </joint>
  <link name="fridge_area_lower_drawer_main">
    <inertial>
      <origin xyz="0.0 0.0 0.0" rpy="0.0 0.0 0.0"/>
      <mass value="1.0"/>
      <inertia ixx="1.0" ixy="0.0" ixz="0.0" iyy="1.0" iyz="0.0" izz="1.0"/>
    </inertial>
    <visual>
      <origin xyz="0.0 0.0 0.0" rpy="0.0 0.0 0.0"/>
      <geometry>
        <mesh filename="package://iai_kitchen/meshes/drawers/Drawer_60_29.obj"/>
      </geometry>
    </visual>
    <collision>
      <origin xyz="0.0 0.0 0.0" rpy="0.0 0.0 0.0"/>
      <geometry>
        <mesh filename="package://iai_kitchen/meshes/drawers/Drawer_60_29.obj"/>
      </geometry>
    </collision>
  </link>
  <link name="fridge_area_lower_drawer_handle">
    <inertial>
      <origin xyz="0.0 0.0 0.0" rpy="0.0 0.0 0.0"/>
      <mass value="1.0"/>
      <inertia ixx="1.0" ixy="0.0" ixz="0.0" iyy="1.0" iyz="0.0" izz="1.0"/>
    </inertial>
    <visual>
      <origin xyz="0.0 0.0 0.0" rpy="0.0 0.0 0.0"/>
      <geometry>
        <mesh filename="package://iai_kitchen/meshes/handles/Handle60.obj"/>
      </geometry>
    </visual>
    <collision>
      <origin xyz="0.0 0.0 0.0" rpy="0.0 0.0 0.0"/>
      <geometry>
        <mesh filename="package://iai_kitchen/meshes/handles/Handle60.obj"/>
      </geometry>
    </collision>
  </link>
  <joint name="fridge_area_lower_drawer_main_joint" type="prismatic">
    <origin xyz="0.0 -0.0 -0.4175" rpy="0.0 0.0 0.0"/>
    <axis xyz="1.0 0.0 0.0"/>
    <parent link="fridge_area"/>
    <child link="fridge_area_lower_drawer_main"/>
    <limit effort="300.0" lower="0.0" upper="0.48" velocity="10.0"/>
  </joint>
  <joint name="fridge_area_lower_drawer_handle_joint" type="fixed">
    <origin xyz="0.3325 0.0 0.11" rpy="0.0 0.0 0.0"/>
    <axis xyz="0.0 0.0 1.0"/>
    <parent link="fridge_area_lower_drawer_main"/>
    <child link="fridge_area_lower_drawer_handle"/>
    <limit effort="300.0" lower="0.0" upper="1.57079632679" velocity="10.0"/>
  </joint>
  <link name="iai_fridge_main">
    <inertial>
      <origin xyz="0.0 0.0 0.0" rpy="0.0 0.0 0.0"/>
      <mass value="1.0"/>
      <inertia ixx="1.0" ixy="0.0" ixz="0.0" iyy="1.0" iyz="0.0" izz="1.0"/>
    </inertial>
    <visual>
      <origin xyz="0.0 0.0 0.0" rpy="0.0 0.0 0.0"/>
      <geometry>
        <mesh filename="package://iai_kitchen/meshes/misc/Fridge.obj"/>
      </geometry>
    </visual>
    <collision>
      <origin xyz="0.0 0.0 0.0" rpy="0.0 0.0 0.0"/>
      <geometry>
        <mesh filename="package://iai_kitchen/meshes/misc/Fridge.obj"/>
      </geometry>
    </collision>
  </link>
  <link name="iai_fridge_door">
    <inertial>
      <origin xyz="0.0 0.0 0.0" rpy="0.0 0.0 0.0"/>
      <mass value="1.0"/>
      <inertia ixx="1.0" ixy="0.0" ixz="0.0" iyy="1.0" iyz="0.0" izz="1.0"/>
    </inertial>
    <visual>
      <origin xyz="0.0 0.0 0.0" rpy="0.0 0.0 0.0"/>
      <geometry>
        <mesh filename="package://iai_kitchen/meshes/misc/FridgeDoor.obj"/>
      </geometry>
    </visual>
    <collision>
      <origin xyz="0.0 0.0 0.0" rpy="0.0 0.0 0.0"/>
      <geometry>
        <mesh filename="package://iai_kitchen/meshes/misc/FridgeDoor.obj"/>
      </geometry>
    </collision>
  </link>
  <link name="iai_fridge_door_handle">
    <inertial>
      <origin xyz="0.0 0.0 0.0" rpy="0.0 0.0 0.0"/>
      <mass value="1.0"/>
      <inertia ixx="1.0" ixy="0.0" ixz="0.0" iyy="1.0" iyz="0.0" izz="1.0"/>
    </inertial>
    <visual>
      <origin xyz="0.0 0.0 0.0" rpy="0.0 0.0 0.0"/>
      <geometry>
        <mesh filename="package://iai_kitchen/meshes/handles/VHandle90.obj"/>
      </geometry>
    </visual>
    <collision>
      <origin xyz="0.0 0.0 0.0" rpy="0.0 0.0 0.0"/>
      <geometry>
        <mesh filename="package://iai_kitchen/meshes/handles/VHandle90.obj"/>
      </geometry>
    </collision>
  </link>
  <joint name="iai_fridge_main_joint" type="fixed">
    <origin xyz="0.0 0.0 0.0" rpy="0.0 0.0 0.0"/>
    <parent link="fridge_area"/>
    <child link="iai_fridge_main"/>
  </joint>
  <joint name="iai_fridge_door_joint" type="revolute">
    <origin xyz="0.29 0.3 0.245" rpy="0.0 0.0 0.0"/>
    <axis xyz="0.0 0.0 1.0"/>
    <parent link="iai_fridge_main"/>
    <child link="iai_fridge_door"/>
    <limit effort="300.0" lower="0.0" upper="1.57079632679" velocity="10.0"/>
  </joint>
  <joint name="iai_fridge_door_handle_joint" type="fixed">
    <origin xyz="0.06 -0.57 0.0" rpy="0.0 0.0 0.0"/>
    <parent link="iai_fridge_door"/>
    <child link="iai_fridge_door_handle"/>
  </joint>
  <link name="kitchen_wall_1">
    <inertial>
      <origin xyz="0.0 0.0 0.0" rpy="0.0 0.0 0.0"/>
      <mass value="1.0"/>
      <inertia ixx="1.0" ixy="0.0" ixz="0.0" iyy="1.0" iyz="0.0" izz="1.0"/>
    </inertial>
    <visual>
      <origin xyz="0.0 0.0 1.25" rpy="0.0 0.0 0.0"/>
      <geometry>
        <box size="4.9 0.15 2.5"/>
      </geometry>
    </visual>
    <collision>
      <origin xyz="0.0 0.0 1.25" rpy="0.0 0.0 0.0"/>
      <geometry>
        <box size="4.9 0.15 2.5"/>
      </geometry>
    </collision>
  </link>
  <link name="kitchen_wall_2">
    <inertial>
      <origin xyz="0.0 0.0 0.0" rpy="0.0 0.0 0.0"/>
      <mass value="1.0"/>
      <inertia ixx="1.0" ixy="0.0" ixz="0.0" iyy="1.0" iyz="0.0" izz="1.0"/>
    </inertial>
    <visual>
      <origin xyz="0.0 0.0 1.25" rpy="0.0 0.0 0.0"/>
      <geometry>
        <box size="5.901 0.15 2.5"/>
      </geometry>
    </visual>
    <collision>
      <origin xyz="0.0 0.0 1.25" rpy="0.0 0.0 0.0"/>
      <geometry>
        <box size="5.901 0.15 2.5"/>
      </geometry>
    </collision>
  </link>
  <link name="kitchen_walls"/>
  <joint name="walls_main_joint" type="fixed">
    <origin xyz="-1.0 0.562175 0.0" rpy="0.0 0.0 0.0"/>
    <parent link="kitchen_main"/>
    <child link="kitchen_walls"/>
  </joint>
  <joint name="wall_1_joint" type="fixed">
    <origin xyz="2.87551 0.0 0.0" rpy="0.0 -0.0 1.5708"/>
    <parent link="kitchen_walls"/>
    <child link="kitchen_wall_1"/>
  </joint>
  <joint name="wall_2_joint" type="fixed">
    <origin xyz="0.0 2.516 0.0" rpy="0.0 -0.0 3.14159"/>
    <parent link="kitchen_walls"/>
    <child link="kitchen_wall_2"/>
  </joint>
  <link name="iai_kitchen:arena:door_center">
    <visual>
      <origin xyz="0.4275 0.0 0.0" rpy="0.0 0.0 0.0"/>
      <geometry>
        <box size="0.855 0.04 2.0"/>
      </geometry>
      <material name="door_green"/>
    </visual>
    <collision>
      <origin xyz="0.4275 0.0 0.0" rpy="0.0 0.0 0.0"/>
      <geometry>
        <box size="0.855 0.04 2.0"/>
      </geometry>
    </collision>
  </link>
  <link name="iai_kitchen:arena:door_hinge">
    <visual>
      <origin xyz="0.0 0.0 0.0" rpy="0.0 0.0 0.0"/>
      <geometry>
        <box size="0.05 0.05 2.0"/>
      </geometry>
      <material name="hinge_red"/>
    </visual>
    <collision>
      <origin xyz="0.0 0.0 0.0" rpy="0.0 0.0 0.0"/>
      <geometry>
        <box size="0.05 0.05 2.0"/>
      </geometry>
    </collision>
  </link>
  <link name="iai_kitchen:arena:door_handle_link">
    <visual>
      <origin xyz="0.0 0.0 0.0" rpy="0.0 0.0 0.0"/>
      <geometry>
        <cylinder radius="0.013" length="0.1"/>
      </geometry>
    </visual>
    <collision>
      <origin xyz="0.0 0.0 0.0" rpy="0.0 0.0 0.0"/>
      <geometry>
        <cylinder radius="0.013" length="0.1"/>
      </geometry>
    </collision>
  </link>
  <link name="iai_kitchen:arena:door_handle_outside">
    <visual>
      <origin xyz="0.0 0.0 0.0" rpy="0.0 0.0 0.0"/>
      <geometry>
        <box size="0.015 0.15 0.01"/>
      </geometry>
      <material name="handle_blue"/>
    </visual>
    <collision>
      <origin xyz="0.0 0.0 0.0" rpy="0.0 0.0 0.0"/>
      <geometry>
        <box size="0.015 0.15 0.01"/>
      </geometry>
    </collision>
  </link>
  <link name="iai_kitchen:arena:door_handle_inside">
    <visual>
      <origin xyz="0.0 0.0 0.0" rpy="0.0 0.0 0.0"/>
      <geometry>
        <box size="0.015 0.15 0.01"/>
      </geometry>
      <material name="handle_blue"/>
    </visual>
    <collision>
      <origin xyz="0.0 0.0 0.0" rpy="0.0 0.0 0.0"/>
      <geometry>
        <box size="0.015 0.15 0.01"/>
      </geometry>
    </collision>
  </link>
  <joint name="iai_kitchen:arena:door_origin_revolute_joint" type="revolute">
    <origin xyz="0.0 0.0 0.0" rpy="0.0 0.0 1.57"/>
    <axis xyz="0.0 0.0 1.0"/>
    <parent link="iai_kitchen:arena:door_hinge"/>
    <child link="iai_kitchen:arena:door_center"/>
    <limit effort="100.0" lower="-1.4" upper="0.0" velocity="10.0"/>
  </joint>
  <joint name="iai_kitchen:arena:door_hinge_joint" type="fixed">
    <origin xyz="0.58 -0.44 1.04" rpy="0.0 0.0 0.0"/>
    <axis xyz="0.0 0.0 0.0"/>
    <parent link="urdf_offset"/>
    <child link="iai_kitchen:arena:door_hinge"/>
    <limit effort="1.0" lower="0.0" upper="1.5708" velocity="1.0"/>
  </joint>
  <joint name="iai_kitchen:arena:door_handle_joint" type="revolute">
    <origin xyz="0.82 0.0 0.02" rpy="1.5707963267948966 0.0 0.0"/>
    <axis xyz="0.0 0.0 1.0"/>
    <parent link="iai_kitchen:arena:door_center"/>
    <child link="iai_kitchen:arena:door_handle_link"/>
    <limit effort="1.0" lower="0.0" upper="0.6283185307179586" velocity="1.0"/>
  </joint>
  <joint name="iai_kitchen:arena:door_handle_inside_joint" type="fixed">
    <origin xyz="-0.02 0.0 0.049" rpy="0.0 0.0 1.5707963267948966"/>
    <parent link="iai_kitchen:arena:door_handle_link"/>
    <child link="iai_kitchen:arena:door_handle_inside"/>
  </joint>
  <joint name="iai_kitchen:arena:door_handle_outside_joint" type="fixed">
    <origin xyz="-0.075 0.0 -0.05" rpy="0.0 0.0 -1.5707963267948966"/>
    <parent link="iai_kitchen:arena:door_handle_link"/>
    <child link="iai_kitchen:arena:door_handle_outside"/>
  </joint>
  <link name="living_room:arena:door_center">
    <visual>
      <origin xyz="0.4275 0.0 0.0" rpy="0.0 0.0 0.0"/>
      <geometry>
        <box size="0.855 0.04 2.0"/>
      </geometry>
      <material name="door_green"/>
    </visual>
    <collision>
      <origin xyz="0.4275 0.0 0.0" rpy="0.0 0.0 0.0"/>
      <geometry>
        <box size="0.855 0.04 2.0"/>
      </geometry>
    </collision>
  </link>
  <link name="living_room:arena:door_hinge">
    <visual>
      <origin xyz="0.0 0.0 0.0" rpy="0.0 0.0 0.0"/>
      <geometry>
        <box size="0.05 0.05 2.0"/>
      </geometry>
      <material name="hinge_red"/>
    </visual>
    <collision>
      <origin xyz="0.0 0.0 0.0" rpy="0.0 0.0 0.0"/>
      <geometry>
        <box size="0.05 0.05 2.0"/>
      </geometry>
    </collision>
  </link>
  <link name="living_room:arena:door_handle_link">
    <visual>
      <origin xyz="0.0 0.0 0.0" rpy="0.0 0.0 0.0"/>
      <geometry>
        <cylinder radius="0.013" length="0.1"/>
      </geometry>
    </visual>
    <collision>
      <origin xyz="0.0 0.0 0.0" rpy="0.0 0.0 0.0"/>
      <geometry>
        <cylinder radius="0.013" length="0.1"/>
      </geometry>
    </collision>
  </link>
  <link name="living_room:arena:door_handle_outside">
    <visual>
      <origin xyz="0.0 0.0 0.0" rpy="0.0 0.0 0.0"/>
      <geometry>
        <box size="0.015 0.15 0.01"/>
      </geometry>
      <material name="handle_blue"/>
    </visual>
    <collision>
      <origin xyz="0.0 0.0 0.0" rpy="0.0 0.0 0.0"/>
      <geometry>
        <box size="0.015 0.15 0.01"/>
      </geometry>
    </collision>
  </link>
  <link name="living_room:arena:door_handle_inside">
    <visual>
      <origin xyz="0.0 0.0 0.0" rpy="0.0 0.0 0.0"/>
      <geometry>
        <box size="0.015 0.15 0.01"/>
      </geometry>
      <material name="handle_blue"/>
    </visual>
    <collision>
      <origin xyz="0.0 0.0 0.0" rpy="0.0 0.0 0.0"/>
      <geometry>
        <box size="0.015 0.15 0.01"/>
      </geometry>
    </collision>
  </link>
  <joint name="living_room:arena:door_origin_revolute_joint" type="revolute">
    <origin xyz="0.0 0.0 0.0" rpy="0.0 0.0 1.57"/>
    <axis xyz="0.0 0.0 1.0"/>
    <parent link="living_room:arena:door_hinge"/>
    <child link="living_room:arena:door_center"/>
    <limit effort="100.0" lower="-1.4" upper="0.0" velocity="10.0"/>
  </joint>
  <joint name="living_room:arena:door_hinge_joint" type="fixed">
    <origin xyz="0.28 3.37 1.04" rpy="0.0 0.0 0.0"/>
    <axis xyz="0.0 0.0 0.0"/>
    <parent link="urdf_offset"/>
    <child link="living_room:arena:door_hinge"/>
    <limit effort="1.0" lower="0.0" upper="1.5708" velocity="1.0"/>
  </joint>
  <joint name="living_room:arena:door_handle_joint" type="revolute">
    <origin xyz="0.79 0.0 0.02" rpy="1.5707963267948966 0.0 0.0"/>
    <axis xyz="0.0 0.0 1.0"/>
    <parent link="living_room:arena:door_center"/>
    <child link="living_room:arena:door_handle_link"/>
    <limit effort="1.0" lower="0.0" upper="0.6283185307179586" velocity="1.0"/>
  </joint>
  <joint name="living_room:arena:door_handle_inside_joint" type="fixed">
    <origin xyz="-0.02 0.0 0.049" rpy="0.0 0.0 1.5707963267948966"/>
    <parent link="living_room:arena:door_handle_link"/>
    <child link="living_room:arena:door_handle_inside"/>
  </joint>
  <joint name="living_room:arena:door_handle_outside_joint" type="fixed">
    <origin xyz="-0.075 0.0 -0.05" rpy="0.0 0.0 -1.5707963267948966"/>
    <parent link="living_room:arena:door_handle_link"/>
    <child link="living_room:arena:door_handle_outside"/>
  </joint>
  <link name="urdf_main"/>
  <joint name="map_urdf_joint" type="fixed">
    <origin xyz="0.0 0.0 0.0" rpy="0.0 0.0 0.0"/>
    <parent link="urdf_main"/>
    <child link="urdf_offset"/>
  </joint>
  <link name="urdf_offset"/>
</robot>
